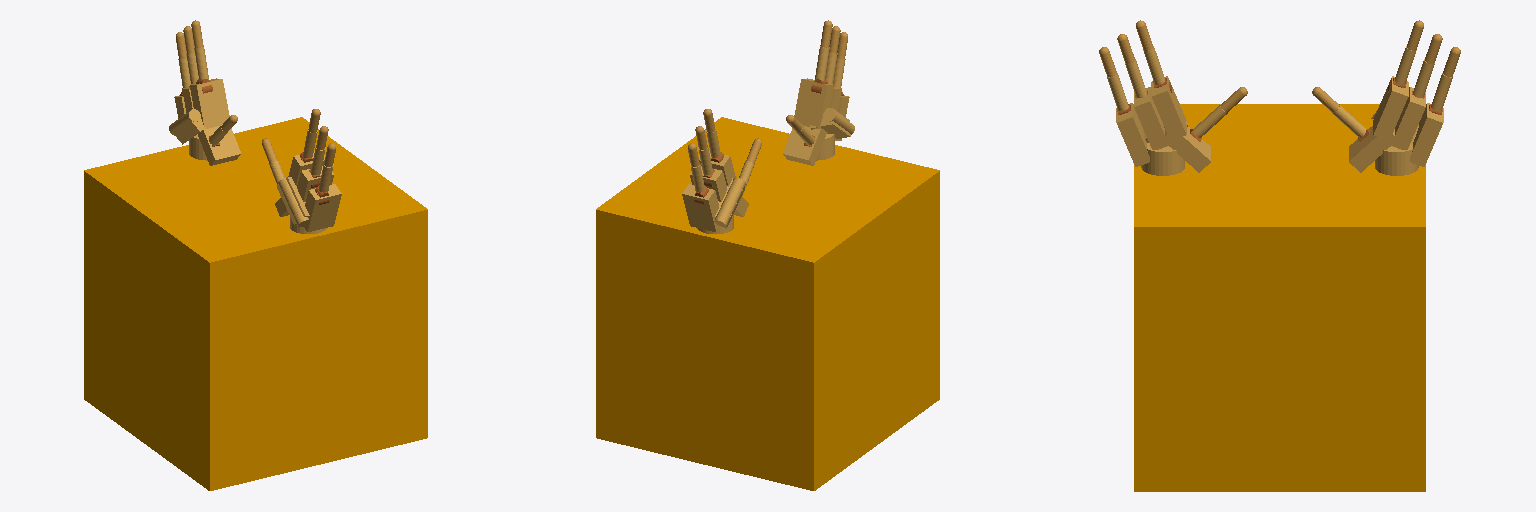
--- Facts derived from the render (not from the file) ---
3 views of the same robot in one strip: view 1: azimuth 30°, elevation 25°; view 2: azimuth 150°, elevation 25°; view 3: azimuth 270°, elevation 25° (orthographic).
Model humanoid with 69 links and 68 joints (68 fixed), rooted at base, posed every joint at zero.
Visible links, largest first — view 1: base, right_palm, left_palm; view 2: base, left_palm, right_palm; view 3: base, right_palm, left_palm.
Link boxes in pixels (x1=…): base: x1=84, y1=117, x2=427, y2=490; right_palm: x1=169, y1=78, x2=240, y2=165; left_palm: x1=275, y1=151, x2=341, y2=233; base: x1=596, y1=117, x2=939, y2=490; left_palm: x1=783, y1=78, x2=854, y2=165; right_palm: x1=682, y1=151, x2=748, y2=233; base: x1=1134, y1=104, x2=1425, y2=491; right_palm: x1=1349, y1=76, x2=1443, y2=175; left_palm: x1=1116, y1=76, x2=1210, y2=175.
Bounding box of the posed robot: 0.5 × 0.6197 × 0.7732 m (x, y, z).
Geometry: primitives only (box / cylinder / sphere), no mesh files.

The robot description file, URDF, robot "humanoid":
<?xml version="1.0" ?>
<!-- =================================================================================== -->
<!-- |    This document was autogenerated by xacro from /tmp/buildd/sandia-hand-5.1.14/ros/sandia_hand_description/robots/sandia_hand_stumps_on_box.urdf.xacro | -->
<!-- |    EDITING THIS FILE BY HAND IS NOT RECOMMENDED                                 | -->
<!-- =================================================================================== -->
<robot name="humanoid" xmlns:controller="http://playerstage.sourceforge.net/gazebo/xmlschema/#controller" xmlns:interface="http://playerstage.sourceforge.net/gazebo/xmlschema/#interface" xmlns:sensor="http://playerstage.sourceforge.net/gazebo/xmlschema/#sensor" xmlns:xacro="http://www.ros.org/wiki/xacro">
  <!-- Commenting out urdf with meshes, using simple collision shapes instead -->
  <!--<include filename="$(find sandia_hand_description)/urdf/sandia_hand.urdf.xacro" />-->
  <link name="base">
    <inertial>
      <mass value="0.1"/>
      <origin rpy="0 0 0" xyz="0 0 0.25"/>
      <inertia ixx="0.01" ixy="0" ixz="0" iyy="0.01" iyz="0" izz="0.01"/>
    </inertial>
    <visual>
      <origin rpy="0 0 0" xyz="0 0 0.25"/>
      <geometry>
        <box size="0.5 0.5 0.5"/>
      </geometry>
    </visual>
    <collision>
      <origin rpy="0 0 0" xyz="0 0 0.25"/>
      <geometry>
        <box size="0.5 0.5 0.5"/>
      </geometry>
    </collision>
  </link>
  <joint name="r_hand_base" type="fixed">
    <parent link="base"/>
    <child link="r_hand"/>
  </joint>
  <link name="r_hand"/>
  <joint name="l_hand_base" type="fixed">
    <parent link="base"/>
    <child link="l_hand"/>
  </joint>
  <link name="l_hand"/>
  <link name="right_palm">
    <origin rpy="0 0 0" xyz="0 0 0"/>
    <inertial>
      <mass value="1.303"/>
      <origin xyz="0 0 0"/>
      <!-- solid sphere with 5cm radius -->
      <inertia ixx="0.001303" ixy="0" ixz="0" iyy="0.001303" iyz="0" izz="0.001303"/>
    </inertial>
    <!-- begin simple shape approximation of palm -->
    <collision group="default">
      <origin rpy="0 1.57079632679 -0.9" xyz="0.069 0.016 0.038"/>
      <geometry>
        <cylinder length="0.100" radius="0.013"/>
      </geometry>
    </collision>
    <collision group="other">
      <origin rpy="0.41 0 -0.9" xyz="0.064 0.008 0.021"/>
      <geometry>
        <box size="0.09 .035 .05"/>
      </geometry>
    </collision>
    <collision group="other">
      <origin rpy="0 1.57079632679 0" xyz="0.02 0 -0.005"/>
      <geometry>
        <cylinder length="0.05" radius="0.038"/>
      </geometry>
    </collision>
    <collision group="other">
      <origin rpy="0 0 0.37" xyz="0.11 -0.01 -0.005"/>
      <geometry>
        <box size="0.09 .03 .06"/>
      </geometry>
    </collision>
    <collision group="other">
      <origin rpy="0 0 0.37" xyz="0.09 0.02 -0.005"/>
      <geometry>
        <box size="0.09 .03 .06"/>
      </geometry>
    </collision>
    <collision group="other">
      <origin rpy="0 0 0.37" xyz="0.060 0.05 -0.005"/>
      <geometry>
        <box size="0.09 .03 .06"/>
      </geometry>
    </collision>
    <collision group="other">
      <origin rpy="0 0 0.79" xyz="0.044 -0.04 -0.005"/>
      <geometry>
        <box size="0.09 .03 .06"/>
      </geometry>
    </collision>
    <!--   end simple shape approximation of palm -->
    <!-- begin visual shape approximation of palm -->
    <visual>
      <origin rpy="0 1.57079632679 -0.9" xyz="0.069 0.016 0.038"/>
      <geometry>
        <cylinder length="0.100" radius="0.013"/>
      </geometry>
      <material name="right_sandia_hand_skin">
        <color rgba="0.835 0.655 0.345 1.0"/>
      </material>
    </visual>
    <visual>
      <origin rpy="0.41 0 -0.9" xyz="0.064 0.008 0.021"/>
      <geometry>
        <box size="0.09 .035 .05"/>
      </geometry>
      <material name="right_sandia_hand_skin">
        <color rgba="0.835 0.655 0.345 1.0"/>
      </material>
    </visual>
    <visual>
      <origin rpy="0 1.57079632679 0" xyz="0.02 0 -0.005"/>
      <geometry>
        <cylinder length="0.05" radius="0.038"/>
      </geometry>
      <material name="right_sandia_hand_skin">
        <color rgba="0.835 0.655 0.345 1.0"/>
      </material>
    </visual>
    <visual>
      <origin rpy="0 0 0.37" xyz="0.11 -0.01 -0.005"/>
      <geometry>
        <box size="0.09 .03 .06"/>
      </geometry>
      <material name="right_sandia_hand_skin">
        <color rgba="0.835 0.655 0.345 1.0"/>
      </material>
    </visual>
    <visual>
      <origin rpy="0 0 0.37" xyz="0.09 0.02 -0.005"/>
      <geometry>
        <box size="0.09 .03 .06"/>
      </geometry>
      <material name="right_sandia_hand_skin">
        <color rgba="0.835 0.655 0.345 1.0"/>
      </material>
    </visual>
    <visual>
      <origin rpy="0 0 0.37" xyz="0.060 0.05 -0.005"/>
      <geometry>
        <box size="0.09 .03 .06"/>
      </geometry>
      <material name="right_sandia_hand_skin">
        <color rgba="0.835 0.655 0.345 1.0"/>
      </material>
    </visual>
    <visual>
      <origin rpy="0 0 0.79" xyz="0.044 -0.04 -0.005"/>
      <geometry>
        <box size="0.09 .03 .06"/>
      </geometry>
      <material name="right_sandia_hand_skin">
        <color rgba="0.835 0.655 0.345 1.0"/>
      </material>
    </visual>
    <!--   end visual shape approximation of palm -->
    <!-- begin collision mesh of f2 ->
      <collision group="default">
        <origin xyz="0 0 0" rpy="0 0 0"/>
        <geometry>
          <mesh filename="package://sandia_hand_description/meshes/palm.stl"/>
        </geometry>
      </collision>
      <!-   end collision mesh of f2 -->
    <!-- begin visual mesh of f2    ->
      <visual>
        <origin xyz="0 0 0" rpy="0 0 0"/>
        <geometry>
          <mesh filename="package://sandia_hand_description/meshes/palm.stl"/>
        </geometry>
        <material name="${side}_sandia_hand_skin">
          <color rgba="0.835 0.655 0.345 1.0"/>
        </material>
      </visual>
      <!-   end visual mesh of f2 -->
  </link>
  <joint name="right_sandia_hand_joint" type="fixed">
    <parent link="r_hand"/>
    <child link="right_palm"/>
    <origin rpy="0 -1.57079 0" xyz="0 0.2 0.5"/>
  </joint>
  <link name="right_f0_base">
    <origin rpy="0 0 0" xyz="0 0 0"/>
    <inertial>
      <!-- total mass is 2.303 kg, palm is about 1.303 kg, distribute the rest into _base -->
      <mass value="0.250"/>
      <!-- (2.303 - 1.303) / 4 -->
      <origin xyz="0 0 0"/>
      <!-- model as sphere with radius of 1cm -->
      <inertia ixx="0.00001" ixy="0" ixz="0" iyy="0.00001" iyz="0" izz="0.00001"/>
    </inertial>
  </link>
  <link name="right_f0_fixed_accel">
    <origin rpy="0 0 0" xyz="0 0 0"/>
    <inertial>
      <mass value="0.01"/>
      <origin xyz="0 0 0"/>
      <inertia ixx="0.000001" ixy="0" ixz="0" iyy="0.000001" iyz="0" izz="0.000001"/>
    </inertial>
  </link>
  <link name="right_f0_0">
    <origin rpy="0 0 0" xyz="0 0 0"/>
    <inertial>
      <mass value="0.106"/>
      <!-- F1 -->
      <origin xyz="0 0 0"/>
      <!-- solid cylinder -->
      <inertia ixx="0.000011925" ixy="0" ixz="0" iyy="0.00011505" iyz="0" izz="0.00011505"/>
    </inertial>
    <!-- begin simple shape approximation of f0 -->
    <collision group="default">
      <origin rpy="0 0 0" xyz="0 0 0.003"/>
      <geometry>
        <cylinder length="0.023" radius="0.015"/>
      </geometry>
    </collision>
    <collision group="other">
      <origin rpy="1.57079632679 0 0" xyz="0.011 0 0.003"/>
      <geometry>
        <cylinder length="0.023" radius="0.01"/>
      </geometry>
    </collision>
    <!--   end simple shape approximation of f0 -->
    <!-- begin visual shape approximation of f0 -->
    <visual>
      <origin rpy="0 0 0" xyz="0 0 0.003"/>
      <geometry>
        <cylinder length="0.023" radius="0.015"/>
      </geometry>
      <material name="right_sandia_hand_skin_suntan">
        <color rgba="0.7 0.4 0.2 1.0"/>
      </material>
    </visual>
    <visual>
      <origin rpy="1.57079632679 0 0" xyz="0.011 0 0.003"/>
      <geometry>
        <cylinder length="0.023" radius="0.01"/>
      </geometry>
      <material name="right_sandia_hand_skin_suntan">
        <color rgba="0.7 0.4 0.2 1.0"/>
      </material>
    </visual>
    <!--   end visual shape approximation of f0 -->
    <!-- begin collision mesh of f0 ->
      <collision group="default">
        <origin xyz="0 0 0" rpy="0 0 0"/>
        <geometry>
          <mesh filename="package://sandia_hand_description/meshes/f0.stl"/>
        </geometry>
      </collision>
      <!-   end collision mesh of f0 -->
    <!-- begin visual mesh of f0 ->
      <visual>
        <origin xyz="0 0 0" rpy="0 0 0"/>
        <geometry>
          <mesh filename="package://sandia_hand_description/meshes/f0.stl"/>
        </geometry>
        <material name="${side}_sandia_hand_skin_suntan">
          <color rgba="0.7 0.4 0.2 1.0"/>
        </material>
      </visual>
      <!-   end visual mesh of f0 -->
  </link>
  <link name="right_f0_1">
    <origin rpy="0 0 0" xyz="0 0 0"/>
    <inertial>
      <mass value="0.033"/>
      <!-- F2 -->
      <origin xyz="0 0 0"/>
      <!-- solid cylinder -->
      <inertia ixx="0.00000165" ixy="0" ixz="0" iyy="0.00001316975" iyz="0" izz="0.00001316975"/>
    </inertial>
    <!-- begin simple shape approximation of f1 -->
    <collision group="default">
      <origin rpy="0 1.57079632679 0" xyz="0.024 0 0"/>
      <geometry>
        <cylinder length="0.067" radius="0.01"/>
      </geometry>
    </collision>
    <!--   end simple shape approximation of f1 -->
    <!-- begin visual shape approximation of f1 -->
    <visual>
      <origin rpy="0 1.57079632679 0" xyz="0.024 0 0"/>
      <geometry>
        <cylinder length="0.067" radius="0.01"/>
      </geometry>
      <material name="right_sandia_hand_skin">
        <color rgba="0.835 0.655 0.345 1.0"/>
      </material>
    </visual>
    <!--   end visual shape approximation of f1 -->
    <!-- begin collision mesh of f1 ->
      <collision group="default">
        <origin xyz="0 0 0" rpy="0 0 0"/>
        <geometry>
          <mesh filename="package://sandia_hand_description/meshes/f1.stl"/>
        </geometry>
      </collision>
      <!-   end collision mesh of f1 -->
    <!-- begin visual mesh of f1 ->
      <visual>
        <origin xyz="0 0 0" rpy="0 0 0"/>
        <geometry>
          <mesh filename="package://sandia_hand_description/meshes/f1.stl"/>
        </geometry>
        <material name="${side}_sandia_hand_skin">
          <color rgba="0.835 0.655 0.345 1.0"/>
        </material>
      </visual>
      <!-   end visual mesh of f1 -->
  </link>
  <link name="right_f0_1_accel">
    <origin rpy="0 0 0" xyz="0 0 0"/>
    <inertial>
      <mass value="0.01"/>
      <origin xyz="0 0 0"/>
      <inertia ixx="0.000001" ixy="0" ixz="0" iyy="0.000001" iyz="0" izz="0.000001"/>
    </inertial>
  </link>
  <link name="right_f0_2">
    <origin rpy="0 0 0" xyz="0 0 0"/>
    <inertial>
      <mass value="0.033"/>
      <!-- F3 -->
      <origin xyz="0 0 0"/>
      <!-- solid cylinder -->
      <inertia ixx="0.0000013365" ixy="0" ixz="0" iyy="0.000009603" iyz="0" izz="0.000009603"/>
    </inertial>
    <!-- begin simple shape approximation of f2 -->
    <collision group="default">
      <origin rpy="0 1.57079632679 0" xyz="0.024 0 0"/>
      <geometry>
        <cylinder length="0.057" radius="0.009"/>
      </geometry>
    </collision>
    <collision group="other">
      <origin rpy="0 0 0" xyz="0.052 0 0"/>
      <geometry>
        <sphere radius="0.009"/>
      </geometry>
    </collision>
    <!--   end simple shape approximation of f2 -->
    <!-- begin visual shape approximation of f2 -->
    <visual>
      <origin rpy="0 1.57079632679 0" xyz="0.024 0 0"/>
      <geometry>
        <cylinder length="0.057" radius="0.009"/>
      </geometry>
      <material name="right_sandia_hand_skin_suntan">
        <color rgba="0.8 0.6 0.3 1.0"/>
      </material>
    </visual>
    <visual>
      <origin rpy="0 0 0" xyz="0.052 0 0"/>
      <geometry>
        <sphere radius="0.009"/>
      </geometry>
      <material name="right_sandia_hand_skin_suntan">
        <color rgba="0.8 0.6 0.3 1.0"/>
      </material>
    </visual>
    <!-- begin collision mesh of f2    ->
      <collision group="default">
        <origin xyz="0 0 0" rpy="0 0 0"/>
        <geometry>
          <mesh filename="package://sandia_hand_description/meshes/f2.stl"/>
        </geometry>
      </collision>
      <!-   end collision mesh of f2 -->
    <!-- begin visual mesh of f2    ->
      <visual>
        <origin xyz="0 0 0" rpy="0 0 0"/>
        <geometry>
          <mesh filename="package://sandia_hand_description/meshes/f2.stl"/>
        </geometry>
        <material name="${side}_sandia_hand_skin_suntan">
          <color rgba="0.8 0.6 0.3 1.0"/>
        </material>
      </visual>
      <!-   end visual mesh of f2 -->
  </link>
  <link name="right_f0_2_accel">
    <origin rpy="0 0 0" xyz="0 0 0"/>
    <inertial>
      <mass value="0.01"/>
      <origin xyz="0 0 0"/>
      <inertia ixx="0.000001" ixy="0" ixz="0" iyy="0.000001" iyz="0" izz="0.000001"/>
    </inertial>
  </link>
  <joint name="right_f0_base" type="fixed">
    <parent link="right_palm"/>
    <child link="right_f0_base"/>
    <origin rpy="0 0 0.3" xyz="0.14 0.0 0"/>
  </joint>
  <joint name="right_f0_j0" type="fixed">
    <axis xyz="0 0 1"/>
    <parent link="right_f0_base"/>
    <child link="right_f0_0"/>
    <limit effort="11" lower="-1.57079632679" upper="1.57079632679" velocity="-1"/>
    <safety_controller k_position="1000.0" k_velocity="1000.0" soft_lower_limit="-11.57079" soft_upper_limit="11.57079"/>
    <dynamics damping="1.0"/>
    <origin rpy="0 0 0" xyz="0 0 0"/>
  </joint>
  <joint name="right_f0_j1" type="fixed">
    <axis xyz="0 0 1"/>
    <parent link="right_f0_0"/>
    <child link="right_f0_1"/>
    <limit effort="28" lower="-1.57079632679" upper="1.57079632679" velocity="-1"/>
    <safety_controller k_position="1000.0" k_velocity="1000.0" soft_lower_limit="-11.57079" soft_upper_limit="11.57079"/>
    <dynamics damping="1.0"/>
    <origin rpy="1.57079632679 0 0" xyz="0.028 0 0"/>
  </joint>
  <joint name="right_f0_j2" type="fixed">
    <axis xyz="0 0 1"/>
    <parent link="right_f0_1"/>
    <child link="right_f0_2"/>
    <origin rpy="0 0 0" xyz="0.05 0 0"/>
    <safety_controller k_position="1000.0" k_velocity="1000.0" soft_lower_limit="-11.57079" soft_upper_limit="11.57079"/>
    <dynamics damping="1.0"/>
    <limit effort="28" lower="-1.57079632679" upper="1.57079632679" velocity="-1"/>
  </joint>
  <joint name="right_f0_fixed_accel" type="fixed">
    <parent link="right_f0_base"/>
    <child link="right_f0_fixed_accel"/>
    <origin rpy="0 0 0" xyz="-0.05 0 0"/>
  </joint>
  <joint name="right_f0_1_accel" type="fixed">
    <parent link="right_f0_1"/>
    <child link="right_f0_1_accel"/>
    <origin rpy="-1.57079632679 0 0" xyz="0.03 0 0"/>
  </joint>
  <joint name="right_f0_2_accel" type="fixed">
    <parent link="right_f0_2"/>
    <child link="right_f0_2_accel"/>
    <origin rpy="-1.57079632679 0 0" xyz="0.04 0 0"/>
  </joint>
  <transmission name="right_f0_j0" type="pr2_mechanism_model/SimpleTransmission">
    <joint name="right_f0_j0"/>
    <actuator name="right_f0_j0_motor"/>
    <mechanicalReduction>1</mechanicalReduction>
  </transmission>
  <transmission name="right_f0_j1" type="pr2_mechanism_model/SimpleTransmission">
    <joint name="right_f0_j1"/>
    <actuator name="right_f0_j1_motor"/>
    <mechanicalReduction>1</mechanicalReduction>
  </transmission>
  <transmission name="right_f0_j2" type="pr2_mechanism_model/SimpleTransmission">
    <joint name="right_f0_j2"/>
    <actuator name="right_f0_j2_motor"/>
    <mechanicalReduction>1</mechanicalReduction>
  </transmission>
  <gazebo reference="right_f0_base">
    <mu1>0.9</mu1>
    <mu2>0.9</mu2>
    <kp>1000000.0</kp>
    <kd>1.0</kd>
    <maxVel>0.1</maxVel>
    <minDepth>0.001</minDepth>
    <material>Gazebo/FlatBlack</material>
  </gazebo>
  <gazebo reference="right_f0_0">
    <mu1>0.9</mu1>
    <mu2>0.9</mu2>
    <kp>1000000.0</kp>
    <kd>1.0</kd>
    <maxVel>0.1</maxVel>
    <minDepth>0.003</minDepth>
    <maxContacts>1</maxContacts>
    <material>Gazebo/FlatBlack</material>
  </gazebo>
  <gazebo reference="right_f0_1">
    <mu1>0.9</mu1>
    <mu2>0.9</mu2>
    <kp>1000000.0</kp>
    <kd>1.0</kd>
    <maxVel>0.1</maxVel>
    <minDepth>0.003</minDepth>
    <maxContacts>1</maxContacts>
    <material>Gazebo/FlatBlack</material>
  </gazebo>
  <gazebo reference="right_f0_2">
    <mu1>0.9</mu1>
    <mu2>0.9</mu2>
    <kp>1000000.0</kp>
    <kd>1.0</kd>
    <maxVel>0.1</maxVel>
    <minDepth>0.003</minDepth>
    <maxContacts>1</maxContacts>
    <material>Gazebo/FlatBlack</material>
  </gazebo>
  <gazebo reference="right_f0_j0">
    <cfmDamping>1</cfmDamping>
  </gazebo>
  <gazebo reference="right_f0_j1">
    <cfmDamping>1</cfmDamping>
  </gazebo>
  <gazebo reference="right_f0_j2">
    <cfmDamping>1</cfmDamping>
  </gazebo>
  <link name="right_f1_base">
    <origin rpy="0 0 0" xyz="0 0 0"/>
    <inertial>
      <!-- total mass is 2.303 kg, palm is about 1.303 kg, distribute the rest into _base -->
      <mass value="0.250"/>
      <!-- (2.303 - 1.303) / 4 -->
      <origin xyz="0 0 0"/>
      <!-- model as sphere with radius of 1cm -->
      <inertia ixx="0.00001" ixy="0" ixz="0" iyy="0.00001" iyz="0" izz="0.00001"/>
    </inertial>
  </link>
  <link name="right_f1_fixed_accel">
    <origin rpy="0 0 0" xyz="0 0 0"/>
    <inertial>
      <mass value="0.01"/>
      <origin xyz="0 0 0"/>
      <inertia ixx="0.000001" ixy="0" ixz="0" iyy="0.000001" iyz="0" izz="0.000001"/>
    </inertial>
  </link>
  <link name="right_f1_0">
    <origin rpy="0 0 0" xyz="0 0 0"/>
    <inertial>
      <mass value="0.106"/>
      <!-- F1 -->
      <origin xyz="0 0 0"/>
      <!-- solid cylinder -->
      <inertia ixx="0.000011925" ixy="0" ixz="0" iyy="0.00011505" iyz="0" izz="0.00011505"/>
    </inertial>
    <!-- begin simple shape approximation of f0 -->
    <collision group="default">
      <origin rpy="0 0 0" xyz="0 0 0.003"/>
      <geometry>
        <cylinder length="0.023" radius="0.015"/>
      </geometry>
    </collision>
    <collision group="other">
      <origin rpy="1.57079632679 0 0" xyz="0.011 0 0.003"/>
      <geometry>
        <cylinder length="0.023" radius="0.01"/>
      </geometry>
    </collision>
    <!--   end simple shape approximation of f0 -->
    <!-- begin visual shape approximation of f0 -->
    <visual>
      <origin rpy="0 0 0" xyz="0 0 0.003"/>
      <geometry>
        <cylinder length="0.023" radius="0.015"/>
      </geometry>
      <material name="right_sandia_hand_skin_suntan">
        <color rgba="0.7 0.4 0.2 1.0"/>
      </material>
    </visual>
    <visual>
      <origin rpy="1.57079632679 0 0" xyz="0.011 0 0.003"/>
      <geometry>
        <cylinder length="0.023" radius="0.01"/>
      </geometry>
      <material name="right_sandia_hand_skin_suntan">
        <color rgba="0.7 0.4 0.2 1.0"/>
      </material>
    </visual>
    <!--   end visual shape approximation of f0 -->
    <!-- begin collision mesh of f0 ->
      <collision group="default">
        <origin xyz="0 0 0" rpy="0 0 0"/>
        <geometry>
          <mesh filename="package://sandia_hand_description/meshes/f0.stl"/>
        </geometry>
      </collision>
      <!-   end collision mesh of f0 -->
    <!-- begin visual mesh of f0 ->
      <visual>
        <origin xyz="0 0 0" rpy="0 0 0"/>
        <geometry>
          <mesh filename="package://sandia_hand_description/meshes/f0.stl"/>
        </geometry>
        <material name="${side}_sandia_hand_skin_suntan">
          <color rgba="0.7 0.4 0.2 1.0"/>
        </material>
      </visual>
      <!-   end visual mesh of f0 -->
  </link>
  <link name="right_f1_1">
    <origin rpy="0 0 0" xyz="0 0 0"/>
    <inertial>
      <mass value="0.033"/>
      <!-- F2 -->
      <origin xyz="0 0 0"/>
      <!-- solid cylinder -->
      <inertia ixx="0.00000165" ixy="0" ixz="0" iyy="0.00001316975" iyz="0" izz="0.00001316975"/>
    </inertial>
    <!-- begin simple shape approximation of f1 -->
    <collision group="default">
      <origin rpy="0 1.57079632679 0" xyz="0.024 0 0"/>
      <geometry>
        <cylinder length="0.067" radius="0.01"/>
      </geometry>
    </collision>
    <!--   end simple shape approximation of f1 -->
    <!-- begin visual shape approximation of f1 -->
    <visual>
      <origin rpy="0 1.57079632679 0" xyz="0.024 0 0"/>
      <geometry>
        <cylinder length="0.067" radius="0.01"/>
      </geometry>
      <material name="right_sandia_hand_skin">
        <color rgba="0.835 0.655 0.345 1.0"/>
      </material>
    </visual>
    <!--   end visual shape approximation of f1 -->
    <!-- begin collision mesh of f1 ->
      <collision group="default">
        <origin xyz="0 0 0" rpy="0 0 0"/>
        <geometry>
          <mesh filename="package://sandia_hand_description/meshes/f1.stl"/>
        </geometry>
      </collision>
      <!-   end collision mesh of f1 -->
    <!-- begin visual mesh of f1 ->
      <visual>
        <origin xyz="0 0 0" rpy="0 0 0"/>
        <geometry>
          <mesh filename="package://sandia_hand_description/meshes/f1.stl"/>
        </geometry>
        <material name="${side}_sandia_hand_skin">
          <color rgba="0.835 0.655 0.345 1.0"/>
        </material>
      </visual>
      <!-   end visual mesh of f1 -->
  </link>
  <link name="right_f1_1_accel">
    <origin rpy="0 0 0" xyz="0 0 0"/>
    <inertial>
      <mass value="0.01"/>
      <origin xyz="0 0 0"/>
      <inertia ixx="0.000001" ixy="0" ixz="0" iyy="0.000001" iyz="0" izz="0.000001"/>
    </inertial>
  </link>
  <link name="right_f1_2">
    <origin rpy="0 0 0" xyz="0 0 0"/>
    <inertial>
      <mass value="0.033"/>
      <!-- F3 -->
      <origin xyz="0 0 0"/>
      <!-- solid cylinder -->
      <inertia ixx="0.0000013365" ixy="0" ixz="0" iyy="0.000009603" iyz="0" izz="0.000009603"/>
    </inertial>
    <!-- begin simple shape approximation of f2 -->
    <collision group="default">
      <origin rpy="0 1.57079632679 0" xyz="0.024 0 0"/>
      <geometry>
        <cylinder length="0.057" radius="0.009"/>
      </geometry>
    </collision>
    <collision group="other">
      <origin rpy="0 0 0" xyz="0.052 0 0"/>
      <geometry>
        <sphere radius="0.009"/>
      </geometry>
    </collision>
    <!--   end simple shape approximation of f2 -->
    <!-- begin visual shape approximation of f2 -->
    <visual>
      <origin rpy="0 1.57079632679 0" xyz="0.024 0 0"/>
      <geometry>
        <cylinder length="0.057" radius="0.009"/>
      </geometry>
      <material name="right_sandia_hand_skin_suntan">
        <color rgba="0.8 0.6 0.3 1.0"/>
      </material>
    </visual>
    <visual>
      <origin rpy="0 0 0" xyz="0.052 0 0"/>
      <geometry>
        <sphere radius="0.009"/>
      </geometry>
      <material name="right_sandia_hand_skin_suntan">
        <color rgba="0.8 0.6 0.3 1.0"/>
      </material>
    </visual>
    <!-- begin collision mesh of f2    ->
      <collision group="default">
        <origin xyz="0 0 0" rpy="0 0 0"/>
        <geometry>
          <mesh filename="package://sandia_hand_description/meshes/f2.stl"/>
        </geometry>
      </collision>
      <!-   end collision mesh of f2 -->
    <!-- begin visual mesh of f2    ->
      <visual>
        <origin xyz="0 0 0" rpy="0 0 0"/>
        <geometry>
          <mesh filename="package://sandia_hand_description/meshes/f2.stl"/>
        </geometry>
        <material name="${side}_sandia_hand_skin_suntan">
          <color rgba="0.8 0.6 0.3 1.0"/>
        </material>
      </visual>
      <!-   end visual mesh of f2 -->
  </link>
  <link name="right_f1_2_accel">
    <origin rpy="0 0 0" xyz="0 0 0"/>
    <inertial>
      <mass value="0.01"/>
      <origin xyz="0 0 0"/>
      <inertia ixx="0.000001" ixy="0" ixz="0" iyy="0.000001" iyz="0" izz="0.000001"/>
    </inertial>
  </link>
  <joint name="right_f1_base" type="fixed">
    <parent link="right_palm"/>
    <child link="right_f1_base"/>
    <origin rpy="0 0 0.3" xyz="0.115 0.03122 0"/>
  </joint>
  <joint name="right_f1_j0" type="fixed">
    <axis xyz="0 0 1"/>
    <parent link="right_f1_base"/>
    <child link="right_f1_0"/>
    <limit effort="11" lower="-1.57079632679" upper="1.57079632679" velocity="-1"/>
    <safety_controller k_position="1000.0" k_velocity="1000.0" soft_lower_limit="-11.57079" soft_upper_limit="11.57079"/>
    <dynamics damping="1.0"/>
    <origin rpy="0 0 0" xyz="0 0 0"/>
  </joint>
  <joint name="right_f1_j1" type="fixed">
    <axis xyz="0 0 1"/>
    <parent link="right_f1_0"/>
    <child link="right_f1_1"/>
    <limit effort="28" lower="-1.57079632679" upper="1.57079632679" velocity="-1"/>
    <safety_controller k_position="1000.0" k_velocity="1000.0" soft_lower_limit="-11.57079" soft_upper_limit="11.57079"/>
    <dynamics damping="1.0"/>
    <origin rpy="1.57079632679 0 0" xyz="0.028 0 0"/>
  </joint>
  <joint name="right_f1_j2" type="fixed">
    <axis xyz="0 0 1"/>
    <parent link="right_f1_1"/>
    <child link="right_f1_2"/>
    <origin rpy="0 0 0" xyz="0.05 0 0"/>
    <safety_controller k_position="1000.0" k_velocity="1000.0" soft_lower_limit="-11.57079" soft_upper_limit="11.57079"/>
    <dynamics damping="1.0"/>
    <limit effort="28" lower="-1.57079632679" upper="1.57079632679" velocity="-1"/>
  </joint>
  <joint name="right_f1_fixed_accel" type="fixed">
    <parent link="right_f1_base"/>
    <child link="right_f1_fixed_accel"/>
    <origin rpy="0 0 0" xyz="-0.05 0 0"/>
  </joint>
  <joint name="right_f1_1_accel" type="fixed">
    <parent link="right_f1_1"/>
    <child link="right_f1_1_accel"/>
    <origin rpy="-1.57079632679 0 0" xyz="0.03 0 0"/>
  </joint>
  <joint name="right_f1_2_accel" type="fixed">
    <parent link="right_f1_2"/>
    <child link="right_f1_2_accel"/>
    <origin rpy="-1.57079632679 0 0" xyz="0.04 0 0"/>
  </joint>
  <transmission name="right_f1_j0" type="pr2_mechanism_model/SimpleTransmission">
    <joint name="right_f1_j0"/>
    <actuator name="right_f1_j0_motor"/>
    <mechanicalReduction>1</mechanicalReduction>
  </transmission>
  <transmission name="right_f1_j1" type="pr2_mechanism_model/SimpleTransmission">
    <joint name="right_f1_j1"/>
    <actuator name="right_f1_j1_motor"/>
    <mechanicalReduction>1</mechanicalReduction>
  </transmission>
  <transmission name="right_f1_j2" type="pr2_mechanism_model/SimpleTransmission">
    <joint name="right_f1_j2"/>
    <actuator name="right_f1_j2_motor"/>
    <mechanicalReduction>1</mechanicalReduction>
  </transmission>
  <gazebo reference="right_f1_base">
    <mu1>0.9</mu1>
    <mu2>0.9</mu2>
    <kp>1000000.0</kp>
    <kd>1.0</kd>
    <maxVel>0.1</maxVel>
    <minDepth>0.001</minDepth>
    <material>Gazebo/FlatBlack</material>
  </gazebo>
  <gazebo reference="right_f1_0">
    <mu1>0.9</mu1>
    <mu2>0.9</mu2>
    <kp>1000000.0</kp>
    <kd>1.0</kd>
    <maxVel>0.1</maxVel>
    <minDepth>0.003</minDepth>
    <maxContacts>1</maxContacts>
    <material>Gazebo/FlatBlack</material>
  </gazebo>
  <gazebo reference="right_f1_1">
    <mu1>0.9</mu1>
    <mu2>0.9</mu2>
    <kp>1000000.0</kp>
    <kd>1.0</kd>
    <maxVel>0.1</maxVel>
    <minDepth>0.003</minDepth>
    <maxContacts>1</maxContacts>
    <material>Gazebo/FlatBlack</material>
  </gazebo>
  <gazebo reference="right_f1_2">
    <mu1>0.9</mu1>
    <mu2>0.9</mu2>
    <kp>1000000.0</kp>
    <kd>1.0</kd>
    <maxVel>0.1</maxVel>
    <minDepth>0.003</minDepth>
    <maxContacts>1</maxContacts>
    <material>Gazebo/FlatBlack</material>
  </gazebo>
  <gazebo reference="right_f1_j0">
    <cfmDamping>1</cfmDamping>
  </gazebo>
  <gazebo reference="right_f1_j1">
    <cfmDamping>1</cfmDamping>
  </gazebo>
  <gazebo reference="right_f1_j2">
    <cfmDamping>1</cfmDamping>
  </gazebo>
  <link name="right_f2_base">
    <origin rpy="0 0 0" xyz="0 0 0"/>
    <inertial>
      <!-- total mass is 2.303 kg, palm is about 1.303 kg, distribute the rest into _base -->
      <mass value="0.250"/>
      <!-- (2.303 - 1.303) / 4 -->
      <origin xyz="0 0 0"/>
      <!-- model as sphere with radius of 1cm -->
      <inertia ixx="0.00001" ixy="0" ixz="0" iyy="0.00001" iyz="0" izz="0.00001"/>
    </inertial>
  </link>
  <link name="right_f2_fixed_accel">
    <origin rpy="0 0 0" xyz="0 0 0"/>
    <inertial>
      <mass value="0.01"/>
      <origin xyz="0 0 0"/>
      <inertia ixx="0.000001" ixy="0" ixz="0" iyy="0.000001" iyz="0" izz="0.000001"/>
    </inertial>
  </link>
  <link name="right_f2_0">
    <origin rpy="0 0 0" xyz="0 0 0"/>
    <inertial>
      <mass value="0.106"/>
      <!-- F1 -->
      <origin xyz="0 0 0"/>
      <!-- solid cylinder -->
      <inertia ixx="0.000011925" ixy="0" ixz="0" iyy="0.00011505" iyz="0" izz="0.00011505"/>
    </inertial>
    <!-- begin simple shape approximation of f0 -->
    <collision group="default">
      <origin rpy="0 0 0" xyz="0 0 0.003"/>
      <geometry>
        <cylinder length="0.023" radius="0.015"/>
      </geometry>
    </collision>
    <collision group="other">
      <origin rpy="1.57079632679 0 0" xyz="0.011 0 0.003"/>
      <geometry>
        <cylinder length="0.023" radius="0.01"/>
      </geometry>
    </collision>
    <!--   end simple shape approximation of f0 -->
    <!-- begin visual shape approximation of f0 -->
    <visual>
      <origin rpy="0 0 0" xyz="0 0 0.003"/>
      <geometry>
        <cylinder length="0.023" radius="0.015"/>
      </geometry>
      <material name="right_sandia_hand_skin_suntan">
        <color rgba="0.7 0.4 0.2 1.0"/>
      </material>
    </visual>
    <visual>
      <origin rpy="1.57079632679 0 0" xyz="0.011 0 0.003"/>
      <geometry>
        <cylinder length="0.023" radius="0.01"/>
      </geometry>
      <material name="right_sandia_hand_skin_suntan">
        <color rgba="0.7 0.4 0.2 1.0"/>
      </material>
    </visual>
    <!--   end visual shape approximation of f0 -->
    <!-- begin collision mesh of f0 ->
      <collision group="default">
        <origin xyz="0 0 0" rpy="0 0 0"/>
        <geometry>
          <mesh filename="package://sandia_hand_description/meshes/f0.stl"/>
        </geometry>
      </collision>
      <!-   end collision mesh of f0 -->
    <!-- begin visual mesh of f0 ->
      <visual>
        <origin xyz="0 0 0" rpy="0 0 0"/>
        <geometry>
          <mesh filename="package://sandia_hand_description/meshes/f0.stl"/>
        </geometry>
        <material name="${side}_sandia_hand_skin_suntan">
          <color rgba="0.7 0.4 0.2 1.0"/>
        </material>
      </visual>
      <!-   end visual mesh of f0 -->
  </link>
  <link name="right_f2_1">
    <origin rpy="0 0 0" xyz="0 0 0"/>
    <inertial>
      <mass value="0.033"/>
      <!-- F2 -->
      <origin xyz="0 0 0"/>
      <!-- solid cylinder -->
      <inertia ixx="0.00000165" ixy="0" ixz="0" iyy="0.00001316975" iyz="0" izz="0.00001316975"/>
    </inertial>
    <!-- begin simple shape approximation of f1 -->
    <collision group="default">
      <origin rpy="0 1.57079632679 0" xyz="0.024 0 0"/>
      <geometry>
        <cylinder length="0.067" radius="0.01"/>
      </geometry>
    </collision>
    <!--   end simple shape approximation of f1 -->
    <!-- begin visual shape approximation of f1 -->
    <visual>
      <origin rpy="0 1.57079632679 0" xyz="0.024 0 0"/>
      <geometry>
        <cylinder length="0.067" radius="0.01"/>
      </geometry>
      <material name="right_sandia_hand_skin">
        <color rgba="0.835 0.655 0.345 1.0"/>
      </material>
    </visual>
    <!--   end visual shape approximation of f1 -->
    <!-- begin collision mesh of f1 ->
      <collision group="default">
        <origin xyz="0 0 0" rpy="0 0 0"/>
        <geometry>
          <mesh filename="package://sandia_hand_description/meshes/f1.stl"/>
        </geometry>
      </collision>
      <!-   end collision mesh of f1 -->
    <!-- begin visual mesh of f1 ->
      <visual>
        <origin xyz="0 0 0" rpy="0 0 0"/>
        <geometry>
          <mesh filename="package://sandia_hand_description/meshes/f1.stl"/>
        </geometry>
        <material name="${side}_sandia_hand_skin">
          <color rgba="0.835 0.655 0.345 1.0"/>
        </material>
      </visual>
      <!-   end visual mesh of f1 -->
  </link>
  <link name="right_f2_1_accel">
    <origin rpy="0 0 0" xyz="0 0 0"/>
    <inertial>
      <mass value="0.01"/>
      <origin xyz="0 0 0"/>
      <inertia ixx="0.000001" ixy="0" ixz="0" iyy="0.000001" iyz="0" izz="0.000001"/>
    </inertial>
  </link>
  <link name="right_f2_2">
    <origin rpy="0 0 0" xyz="0 0 0"/>
    <inertial>
      <mass value="0.033"/>
      <!-- F3 -->
      <origin xyz="0 0 0"/>
      <!-- solid cylinder -->
      <inertia ixx="0.0000013365" ixy="0" ixz="0" iyy="0.000009603" iyz="0" izz="0.000009603"/>
    </inertial>
    <!-- begin simple shape approximation of f2 -->
    <collision group="default">
      <origin rpy="0 1.57079632679 0" xyz="0.024 0 0"/>
      <geometry>
        <cylinder length="0.057" radius="0.009"/>
      </geometry>
    </collision>
    <collision group="other">
      <origin rpy="0 0 0" xyz="0.052 0 0"/>
      <geometry>
        <sphere radius="0.009"/>
      </geometry>
    </collision>
    <!--   end simple shape approximation of f2 -->
    <!-- begin visual shape approximation of f2 -->
    <visual>
      <origin rpy="0 1.57079632679 0" xyz="0.024 0 0"/>
      <geometry>
        <cylinder length="0.057" radius="0.009"/>
      </geometry>
      <material name="right_sandia_hand_skin_suntan">
        <color rgba="0.8 0.6 0.3 1.0"/>
      </material>
    </visual>
    <visual>
      <origin rpy="0 0 0" xyz="0.052 0 0"/>
      <geometry>
        <sphere radius="0.009"/>
      </geometry>
      <material name="right_sandia_hand_skin_suntan">
        <color rgba="0.8 0.6 0.3 1.0"/>
      </material>
    </visual>
    <!-- begin collision mesh of f2    ->
      <collision group="default">
        <origin xyz="0 0 0" rpy="0 0 0"/>
        <geometry>
          <mesh filename="package://sandia_hand_description/meshes/f2.stl"/>
        </geometry>
      </collision>
      <!-   end collision mesh of f2 -->
    <!-- begin visual mesh of f2    ->
      <visual>
        <origin xyz="0 0 0" rpy="0 0 0"/>
        <geometry>
          <mesh filename="package://sandia_hand_description/meshes/f2.stl"/>
        </geometry>
        <material name="${side}_sandia_hand_skin_suntan">
          <color rgba="0.8 0.6 0.3 1.0"/>
        </material>
      </visual>
      <!-   end visual mesh of f2 -->
  </link>
  <link name="right_f2_2_accel">
    <origin rpy="0 0 0" xyz="0 0 0"/>
    <inertial>
      <mass value="0.01"/>
      <origin xyz="0 0 0"/>
      <inertia ixx="0.000001" ixy="0" ixz="0" iyy="0.000001" iyz="0" izz="0.000001"/>
    </inertial>
  </link>
  <joint name="right_f2_base" type="fixed">
    <parent link="right_palm"/>
    <child link="right_f2_base"/>
    <origin rpy="0 0 0.3" xyz="0.09 0.06245 0"/>
  </joint>
  <joint name="right_f2_j0" type="fixed">
    <axis xyz="0 0 1"/>
    <parent link="right_f2_base"/>
    <child link="right_f2_0"/>
    <limit effort="11" lower="-1.57079632679" upper="1.57079632679" velocity="-1"/>
    <safety_controller k_position="1000.0" k_velocity="1000.0" soft_lower_limit="-11.57079" soft_upper_limit="11.57079"/>
    <dynamics damping="1.0"/>
    <origin rpy="0 0 0" xyz="0 0 0"/>
  </joint>
  <joint name="right_f2_j1" type="fixed">
    <axis xyz="0 0 1"/>
    <parent link="right_f2_0"/>
    <child link="right_f2_1"/>
    <limit effort="28" lower="-1.57079632679" upper="1.57079632679" velocity="-1"/>
    <safety_controller k_position="1000.0" k_velocity="1000.0" soft_lower_limit="-11.57079" soft_upper_limit="11.57079"/>
    <dynamics damping="1.0"/>
    <origin rpy="1.57079632679 0 0" xyz="0.028 0 0"/>
  </joint>
  <joint name="right_f2_j2" type="fixed">
    <axis xyz="0 0 1"/>
    <parent link="right_f2_1"/>
    <child link="right_f2_2"/>
    <origin rpy="0 0 0" xyz="0.05 0 0"/>
    <safety_controller k_position="1000.0" k_velocity="1000.0" soft_lower_limit="-11.57079" soft_upper_limit="11.57079"/>
    <dynamics damping="1.0"/>
    <limit effort="28" lower="-1.57079632679" upper="1.57079632679" velocity="-1"/>
  </joint>
  <joint name="right_f2_fixed_accel" type="fixed">
    <parent link="right_f2_base"/>
    <child link="right_f2_fixed_accel"/>
    <origin rpy="0 0 0" xyz="-0.05 0 0"/>
  </joint>
  <joint name="right_f2_1_accel" type="fixed">
    <parent link="right_f2_1"/>
    <child link="right_f2_1_accel"/>
    <origin rpy="-1.57079632679 0 0" xyz="0.03 0 0"/>
  </joint>
  <joint name="right_f2_2_accel" type="fixed">
    <parent link="right_f2_2"/>
    <child link="right_f2_2_accel"/>
    <origin rpy="-1.57079632679 0 0" xyz="0.04 0 0"/>
  </joint>
  <transmission name="right_f2_j0" type="pr2_mechanism_model/SimpleTransmission">
    <joint name="right_f2_j0"/>
    <actuator name="right_f2_j0_motor"/>
    <mechanicalReduction>1</mechanicalReduction>
  </transmission>
  <transmission name="right_f2_j1" type="pr2_mechanism_model/SimpleTransmission">
    <joint name="right_f2_j1"/>
    <actuator name="right_f2_j1_motor"/>
    <mechanicalReduction>1</mechanicalReduction>
  </transmission>
  <transmission name="right_f2_j2" type="pr2_mechanism_model/SimpleTransmission">
    <joint name="right_f2_j2"/>
    <actuator name="right_f2_j2_motor"/>
    <mechanicalReduction>1</mechanicalReduction>
  </transmission>
  <gazebo reference="right_f2_base">
    <mu1>0.9</mu1>
    <mu2>0.9</mu2>
    <kp>1000000.0</kp>
    <kd>1.0</kd>
    <maxVel>0.1</maxVel>
    <minDepth>0.001</minDepth>
    <material>Gazebo/FlatBlack</material>
  </gazebo>
  <gazebo reference="right_f2_0">
    <mu1>0.9</mu1>
    <mu2>0.9</mu2>
    <kp>1000000.0</kp>
    <kd>1.0</kd>
    <maxVel>0.1</maxVel>
    <minDepth>0.003</minDepth>
    <maxContacts>1</maxContacts>
    <material>Gazebo/FlatBlack</material>
  </gazebo>
  <gazebo reference="right_f2_1">
    <mu1>0.9</mu1>
    <mu2>0.9</mu2>
    <kp>1000000.0</kp>
    <kd>1.0</kd>
    <maxVel>0.1</maxVel>
    <minDepth>0.003</minDepth>
    <maxContacts>1</maxContacts>
    <material>Gazebo/FlatBlack</material>
  </gazebo>
  <gazebo reference="right_f2_2">
    <mu1>0.9</mu1>
    <mu2>0.9</mu2>
    <kp>1000000.0</kp>
    <kd>1.0</kd>
    <maxVel>0.1</maxVel>
    <minDepth>0.003</minDepth>
    <maxContacts>1</maxContacts>
    <material>Gazebo/FlatBlack</material>
  </gazebo>
  <gazebo reference="right_f2_j0">
    <cfmDamping>1</cfmDamping>
  </gazebo>
  <gazebo reference="right_f2_j1">
    <cfmDamping>1</cfmDamping>
  </gazebo>
  <gazebo reference="right_f2_j2">
    <cfmDamping>1</cfmDamping>
  </gazebo>
  <link name="right_f3_base">
    <origin rpy="0 0 0" xyz="0 0 0"/>
    <inertial>
      <!-- total mass is 2.303 kg, palm is about 1.303 kg, distribute the rest into _base -->
      <mass value="0.250"/>
      <!-- (2.303 - 1.303) / 4 -->
      <origin xyz="0 0 0"/>
      <!-- model as sphere with radius of 1cm -->
      <inertia ixx="0.00001" ixy="0" ixz="0" iyy="0.00001" iyz="0" izz="0.00001"/>
    </inertial>
  </link>
  <link name="right_f3_fixed_accel">
    <origin rpy="0 0 0" xyz="0 0 0"/>
    <inertial>
      <mass value="0.01"/>
      <origin xyz="0 0 0"/>
      <inertia ixx="0.000001" ixy="0" ixz="0" iyy="0.000001" iyz="0" izz="0.000001"/>
    </inertial>
  </link>
  <link name="right_f3_0">
    <origin rpy="0 0 0" xyz="0 0 0"/>
    <inertial>
      <mass value="0.106"/>
      <!-- F1 -->
      <origin xyz="0 0 0"/>
      <!-- solid cylinder -->
      <inertia ixx="0.000011925" ixy="0" ixz="0" iyy="0.00011505" iyz="0" izz="0.00011505"/>
    </inertial>
    <!-- begin simple shape approximation of f0 -->
    <collision group="default">
      <origin rpy="0 0 0" xyz="0 0 0.003"/>
      <geometry>
        <cylinder length="0.023" radius="0.015"/>
      </geometry>
    </collision>
    <collision group="other">
      <origin rpy="1.57079632679 0 0" xyz="0.011 0 0.003"/>
      <geometry>
        <cylinder length="0.023" radius="0.01"/>
      </geometry>
    </collision>
    <!--   end simple shape approximation of f0 -->
    <!-- begin visual shape approximation of f0 -->
    <visual>
      <origin rpy="0 0 0" xyz="0 0 0.003"/>
      <geometry>
        <cylinder length="0.023" radius="0.015"/>
      </geometry>
      <material name="right_sandia_hand_skin_suntan">
        <color rgba="0.7 0.4 0.2 1.0"/>
      </material>
    </visual>
    <visual>
      <origin rpy="1.57079632679 0 0" xyz="0.011 0 0.003"/>
      <geometry>
        <cylinder length="0.023" radius="0.01"/>
      </geometry>
      <material name="right_sandia_hand_skin_suntan">
        <color rgba="0.7 0.4 0.2 1.0"/>
      </material>
    </visual>
    <!--   end visual shape approximation of f0 -->
    <!-- begin collision mesh of f0 ->
      <collision group="default">
        <origin xyz="0 0 0" rpy="0 0 0"/>
        <geometry>
          <mesh filename="package://sandia_hand_description/meshes/f0.stl"/>
        </geometry>
      </collision>
      <!-   end collision mesh of f0 -->
    <!-- begin visual mesh of f0 ->
      <visual>
        <origin xyz="0 0 0" rpy="0 0 0"/>
        <geometry>
          <mesh filename="package://sandia_hand_description/meshes/f0.stl"/>
        </geometry>
        <material name="${side}_sandia_hand_skin_suntan">
          <color rgba="0.7 0.4 0.2 1.0"/>
        </material>
      </visual>
      <!-   end visual mesh of f0 -->
  </link>
  <link name="right_f3_1">
    <origin rpy="0 0 0" xyz="0 0 0"/>
    <inertial>
      <mass value="0.033"/>
      <!-- F2 -->
      <origin xyz="0 0 0"/>
      <!-- solid cylinder -->
      <inertia ixx="0.00000165" ixy="0" ixz="0" iyy="0.00001316975" iyz="0" izz="0.00001316975"/>
    </inertial>
    <!-- begin simple shape approximation of f1 -->
    <collision group="default">
      <origin rpy="0 1.57079632679 0" xyz="0.024 0 0"/>
      <geometry>
        <cylinder length="0.067" radius="0.01"/>
      </geometry>
    </collision>
    <!--   end simple shape approximation of f1 -->
    <!-- begin visual shape approximation of f1 -->
    <visual>
      <origin rpy="0 1.57079632679 0" xyz="0.024 0 0"/>
      <geometry>
        <cylinder length="0.067" radius="0.01"/>
      </geometry>
      <material name="right_sandia_hand_skin">
        <color rgba="0.835 0.655 0.345 1.0"/>
      </material>
    </visual>
    <!--   end visual shape approximation of f1 -->
    <!-- begin collision mesh of f1 ->
      <collision group="default">
        <origin xyz="0 0 0" rpy="0 0 0"/>
        <geometry>
          <mesh filename="package://sandia_hand_description/meshes/f1.stl"/>
        </geometry>
      </collision>
      <!-   end collision mesh of f1 -->
    <!-- begin visual mesh of f1 ->
      <visual>
        <origin xyz="0 0 0" rpy="0 0 0"/>
        <geometry>
          <mesh filename="package://sandia_hand_description/meshes/f1.stl"/>
        </geometry>
        <material name="${side}_sandia_hand_skin">
          <color rgba="0.835 0.655 0.345 1.0"/>
        </material>
      </visual>
      <!-   end visual mesh of f1 -->
  </link>
  <link name="right_f3_1_accel">
    <origin rpy="0 0 0" xyz="0 0 0"/>
    <inertial>
      <mass value="0.01"/>
      <origin xyz="0 0 0"/>
      <inertia ixx="0.000001" ixy="0" ixz="0" iyy="0.000001" iyz="0" izz="0.000001"/>
    </inertial>
  </link>
  <link name="right_f3_2">
    <origin rpy="0 0 0" xyz="0 0 0"/>
    <inertial>
      <mass value="0.033"/>
      <!-- F3 -->
      <origin xyz="0 0 0"/>
      <!-- solid cylinder -->
      <inertia ixx="0.0000013365" ixy="0" ixz="0" iyy="0.000009603" iyz="0" izz="0.000009603"/>
    </inertial>
    <!-- begin simple shape approximation of f2 -->
    <collision group="default">
      <origin rpy="0 1.57079632679 0" xyz="0.024 0 0"/>
      <geometry>
        <cylinder length="0.057" radius="0.009"/>
      </geometry>
    </collision>
    <collision group="other">
      <origin rpy="0 0 0" xyz="0.052 0 0"/>
      <geometry>
        <sphere radius="0.009"/>
      </geometry>
    </collision>
    <!--   end simple shape approximation of f2 -->
    <!-- begin visual shape approximation of f2 -->
    <visual>
      <origin rpy="0 1.57079632679 0" xyz="0.024 0 0"/>
      <geometry>
        <cylinder length="0.057" radius="0.009"/>
      </geometry>
      <material name="right_sandia_hand_skin_suntan">
        <color rgba="0.8 0.6 0.3 1.0"/>
      </material>
    </visual>
    <visual>
      <origin rpy="0 0 0" xyz="0.052 0 0"/>
      <geometry>
        <sphere radius="0.009"/>
      </geometry>
      <material name="right_sandia_hand_skin_suntan">
        <color rgba="0.8 0.6 0.3 1.0"/>
      </material>
    </visual>
    <!-- begin collision mesh of f2    ->
      <collision group="default">
        <origin xyz="0 0 0" rpy="0 0 0"/>
        <geometry>
          <mesh filename="package://sandia_hand_description/meshes/f2.stl"/>
        </geometry>
      </collision>
      <!-   end collision mesh of f2 -->
    <!-- begin visual mesh of f2    ->
      <visual>
        <origin xyz="0 0 0" rpy="0 0 0"/>
        <geometry>
          <mesh filename="package://sandia_hand_description/meshes/f2.stl"/>
        </geometry>
        <material name="${side}_sandia_hand_skin_suntan">
          <color rgba="0.8 0.6 0.3 1.0"/>
        </material>
      </visual>
      <!-   end visual mesh of f2 -->
  </link>
  <link name="right_f3_2_accel">
    <origin rpy="0 0 0" xyz="0 0 0"/>
    <inertial>
      <mass value="0.01"/>
      <origin xyz="0 0 0"/>
      <inertia ixx="0.000001" ixy="0" ixz="0" iyy="0.000001" iyz="0" izz="0.000001"/>
    </inertial>
  </link>
  <joint name="right_f3_base" type="fixed">
    <parent link="right_palm"/>
    <child link="right_f3_base"/>
    <origin rpy="0 -3.14079632679 -3.9262" xyz="0.03995 -0.04383 0.014"/>
  </joint>
  <joint name="right_f3_j0" type="fixed">
    <axis xyz="0 0 1"/>
    <parent link="right_f3_base"/>
    <child link="right_f3_0"/>
    <limit effort="11" lower="-1.57079632679" upper="1.57079632679" velocity="-1"/>
    <safety_controller k_position="1000.0" k_velocity="1000.0" soft_lower_limit="-11.57079" soft_upper_limit="11.57079"/>
    <dynamics damping="1.0"/>
    <origin rpy="0 0 0" xyz="0 0 0"/>
  </joint>
  <joint name="right_f3_j1" type="fixed">
    <axis xyz="0 0 1"/>
    <parent link="right_f3_0"/>
    <child link="right_f3_1"/>
    <limit effort="28" lower="-1.57079632679" upper="1.57079632679" velocity="-1"/>
    <safety_controller k_position="1000.0" k_velocity="1000.0" soft_lower_limit="-11.57079" soft_upper_limit="11.57079"/>
    <dynamics damping="1.0"/>
    <origin rpy="1.57079632679 0 0" xyz="0.028 0 0"/>
  </joint>
  <joint name="right_f3_j2" type="fixed">
    <axis xyz="0 0 1"/>
    <parent link="right_f3_1"/>
    <child link="right_f3_2"/>
    <origin rpy="0 0 0" xyz="0.05 0 0"/>
    <safety_controller k_position="1000.0" k_velocity="1000.0" soft_lower_limit="-11.57079" soft_upper_limit="11.57079"/>
    <dynamics damping="1.0"/>
    <limit effort="28" lower="-1.57079632679" upper="1.57079632679" velocity="-1"/>
  </joint>
  <joint name="right_f3_fixed_accel" type="fixed">
    <parent link="right_f3_base"/>
    <child link="right_f3_fixed_accel"/>
    <origin rpy="0 0 0" xyz="-0.05 0 0"/>
  </joint>
  <joint name="right_f3_1_accel" type="fixed">
    <parent link="right_f3_1"/>
    <child link="right_f3_1_accel"/>
    <origin rpy="-1.57079632679 0 0" xyz="0.03 0 0"/>
  </joint>
  <joint name="right_f3_2_accel" type="fixed">
    <parent link="right_f3_2"/>
    <child link="right_f3_2_accel"/>
    <origin rpy="-1.57079632679 0 0" xyz="0.04 0 0"/>
  </joint>
  <transmission name="right_f3_j0" type="pr2_mechanism_model/SimpleTransmission">
    <joint name="right_f3_j0"/>
    <actuator name="right_f3_j0_motor"/>
    <mechanicalReduction>1</mechanicalReduction>
  </transmission>
  <transmission name="right_f3_j1" type="pr2_mechanism_model/SimpleTransmission">
    <joint name="right_f3_j1"/>
    <actuator name="right_f3_j1_motor"/>
    <mechanicalReduction>1</mechanicalReduction>
  </transmission>
  <transmission name="right_f3_j2" type="pr2_mechanism_model/SimpleTransmission">
    <joint name="right_f3_j2"/>
    <actuator name="right_f3_j2_motor"/>
    <mechanicalReduction>1</mechanicalReduction>
  </transmission>
  <gazebo reference="right_f3_base">
    <mu1>0.9</mu1>
    <mu2>0.9</mu2>
    <kp>1000000.0</kp>
    <kd>1.0</kd>
    <maxVel>0.1</maxVel>
    <minDepth>0.001</minDepth>
    <material>Gazebo/FlatBlack</material>
  </gazebo>
  <gazebo reference="right_f3_0">
    <mu1>0.9</mu1>
    <mu2>0.9</mu2>
    <kp>1000000.0</kp>
    <kd>1.0</kd>
    <maxVel>0.1</maxVel>
    <minDepth>0.003</minDepth>
    <maxContacts>1</maxContacts>
    <material>Gazebo/FlatBlack</material>
  </gazebo>
  <gazebo reference="right_f3_1">
    <mu1>0.9</mu1>
    <mu2>0.9</mu2>
    <kp>1000000.0</kp>
    <kd>1.0</kd>
    <maxVel>0.1</maxVel>
    <minDepth>0.003</minDepth>
    <maxContacts>1</maxContacts>
    <material>Gazebo/FlatBlack</material>
  </gazebo>
  <gazebo reference="right_f3_2">
    <mu1>0.9</mu1>
    <mu2>0.9</mu2>
    <kp>1000000.0</kp>
    <kd>1.0</kd>
    <maxVel>0.1</maxVel>
    <minDepth>0.003</minDepth>
    <maxContacts>1</maxContacts>
    <material>Gazebo/FlatBlack</material>
  </gazebo>
  <gazebo reference="right_f3_j0">
    <cfmDamping>1</cfmDamping>
  </gazebo>
  <gazebo reference="right_f3_j1">
    <cfmDamping>1</cfmDamping>
  </gazebo>
  <gazebo reference="right_f3_j2">
    <cfmDamping>1</cfmDamping>
  </gazebo>
  <gazebo reference="right_palm">
    <mu1>0.9</mu1>
    <mu2>0.9</mu2>
    <material>Gazebo/FlatBlack</material>
  </gazebo>
  <joint name="right_palm_left_camera_frame_joint" type="fixed">
    <origin rpy="0.6708 -1.57079632679 3.14159265359" xyz="0.0683774130138 0.0138342911048 0.025"/>
    <parent link="right_palm"/>
    <child link="right_palm_left_camera_frame"/>
  </joint>
  <link name="right_palm_left_camera_frame">
    <inertial>
      <mass value="0.01"/>
      <origin xyz="0 0 0"/>
      <inertia ixx="0.0001" ixy="0.0" ixz="0.0" iyy="0.0001" iyz="0.0" izz="0.0001"/>
    </inertial>
    <visual group="default">
      <origin rpy="0 0 0" xyz="0 0 0"/>
      <geometry>
        <box size="0.003 0.010 0.007"/>
      </geometry>
    </visual>
  </link>
  <joint name="right_palm_left_camera_optical_frame_joint" type="fixed">
    <origin rpy="-1.57079632679 0.0 -1.57079632679" xyz="0 0 0"/>
    <parent link="right_palm_left_camera_frame"/>
    <child link="right_palm_left_camera_optical_frame"/>
  </joint>
  <link name="right_palm_left_camera_optical_frame"/>
  <gazebo reference="right_palm_left_camera_frame">
    <sensor name="right_palm_stereo_camera" type="multicamera">
      <update_rate>30.0</update_rate>
      <camera name="left">
        <horizontal_fov>1.25663706144</horizontal_fov>
        <image>
          <width>752</width>
          <height>480</height>
          <format>L8</format>
        </image>
        <clip>
          <near>0.02</near>
          <far>100</far>
        </clip>
        <noise>
          <type>gaussian</type>
          <mean>0.0</mean>
          <stddev>0.007</stddev>
        </noise>
      </camera>
      <camera name="right">
        <pose>0 -0.04 0  0 0 0</pose>
        <horizontal_fov>1.25663706144</horizontal_fov>
        <image>
          <width>752</width>
          <height>480</height>
          <format>L8</format>
        </image>
        <clip>
          <near>0.02</near>
          <far>100</far>
        </clip>
        <noise>
          <type>gaussian</type>
          <mean>0.0</mean>
          <stddev>0.007</stddev>
        </noise>
      </camera>
      <plugin filename="libgazebo_ros_multicamera.so" name="stereo_camera_controller">
        <alwaysOn>true</alwaysOn>
        <updateRate>0.0</updateRate>
        <cameraName>sandia_hands/r_hand/camera</cameraName>
        <imageTopicName>image_raw</imageTopicName>
        <cameraInfoTopicName>camera_info</cameraInfoTopicName>
        <frameName>right_palm_left_camera_optical_frame</frameName>
        <hackBaseline>0.04</hackBaseline>
        <distortionK1>0.0</distortionK1>
        <distortionK2>0.0</distortionK2>
        <distortionK3>0.0</distortionK3>
        <distortionT1>0.0</distortionT1>
        <distortionT2>0.0</distortionT2>
      </plugin>
    </sensor>
  </gazebo>
  <joint name="right_palm_right_camera_frame_joint" type="fixed">
    <origin rpy="0.6708 -1.57079632679 3.14159265359" xyz="0.0435128991906 0.0451672761576 0.025"/>
    <parent link="right_palm"/>
    <child link="right_palm_right_camera_frame"/>
  </joint>
  <link name="right_palm_right_camera_frame">
    <inertial>
      <mass value="0.01"/>
      <origin xyz="0 0 0"/>
      <inertia ixx="0.0001" ixy="0.0" ixz="0.0" iyy="0.0001" iyz="0.0" izz="0.0001"/>
    </inertial>
    <visual group="default">
      <origin rpy="0 0 0" xyz="0 0 0"/>
      <geometry>
        <box size="0.003 0.010 0.007"/>
      </geometry>
    </visual>
  </link>
  <joint name="right_palm_right_camera_optical_frame_joint" type="fixed">
    <origin rpy="-1.57079632679 0.0 -1.57079632679" xyz="0 0 0"/>
    <parent link="right_palm_right_camera_frame"/>
    <child link="right_palm_right_camera_optical_frame"/>
  </joint>
  <link name="right_palm_right_camera_optical_frame"/>
  <gazebo>
    <plugin filename="libContactModelPlugin.so" name="sandia_contact_plugin">
      <contact>
        <collision>r_hand::r_hand_collision_right_palm</collision>
        <collision>r_hand::r_hand_collision_right_palm_1</collision>
        <collision>r_hand::r_hand_collision_right_palm_3</collision>
        <collision>r_hand::r_hand_collision_right_palm_4</collision>
        <collision>r_hand::r_hand_collision_right_palm_5</collision>
        <collision>right_f0_1::right_f0_1_collision</collision>
        <collision>right_f0_2::right_f0_2_collision</collision>
        <collision>right_f1_1::right_f1_1_collision</collision>
        <collision>right_f1_2::right_f1_2_collision</collision>
        <collision>right_f2_1::right_f2_1_collision</collision>
        <collision>right_f2_2::right_f2_2_collision</collision>
        <collision>right_f3_1::right_f3_1_collision</collision>
        <collision>right_f3_2::right_f3_2_collision</collision>
      </contact>
    </plugin>
  </gazebo>
  <gazebo reference="r_hand">
    <sensor name="imu_sensor" type="imu">
      <always_on>1</always_on>
      <update_rate>1000.0</update_rate>
      <imu>
        <noise>
          <type>gaussian</type>
          <rate>
            <mean>0.0</mean>
            <stddev>2e-4</stddev>
            <bias_mean>0.0000075</bias_mean>
            <bias_stddev>0.0000008</bias_stddev>
          </rate>
          <accel>
            <mean>0.0</mean>
            <stddev>1.7e-2</stddev>
            <bias_mean>0.1</bias_mean>
            <bias_stddev>0.001</bias_stddev>
          </accel>
        </noise>
      </imu>
    </sensor>
  </gazebo>
  <link name="left_palm">
    <origin rpy="0 0 0" xyz="0 0 0"/>
    <inertial>
      <mass value="1.303"/>
      <origin xyz="0 0 0"/>
      <!-- solid sphere with 5cm radius -->
      <inertia ixx="0.001303" ixy="0" ixz="0" iyy="0.001303" iyz="0" izz="0.001303"/>
    </inertial>
    <!-- begin simple shape approximation of palm -->
    <collision group="default">
      <origin rpy="0 1.57079632679 0.9" xyz="0.069 -0.016 0.038"/>
      <geometry>
        <cylinder length="0.100" radius="0.013"/>
      </geometry>
    </collision>
    <collision group="other">
      <origin rpy="0.41 0 0.9" xyz="0.064 -0.008 0.021"/>
      <geometry>
        <box size="0.09 .035 .05"/>
      </geometry>
    </collision>
    <collision group="other">
      <origin rpy="0 1.57079632679 0" xyz="0.02 0 -0.005"/>
      <geometry>
        <cylinder length="0.05" radius="0.038"/>
      </geometry>
    </collision>
    <collision group="other">
      <origin rpy="0 0 -0.37" xyz="0.11 0.01 -0.005"/>
      <geometry>
        <box size="0.09 .03 .06"/>
      </geometry>
    </collision>
    <collision group="other">
      <origin rpy="0 0 -0.37" xyz="0.09 -0.02 -0.005"/>
      <geometry>
        <box size="0.09 .03 .06"/>
      </geometry>
    </collision>
    <collision group="other">
      <origin rpy="0 0 -0.37" xyz="0.060 -0.05 -0.005"/>
      <geometry>
        <box size="0.09 .03 .06"/>
      </geometry>
    </collision>
    <collision group="other">
      <origin rpy="0 0 -0.79" xyz="0.044 0.04 -0.005"/>
      <geometry>
        <box size="0.09 .03 .06"/>
      </geometry>
    </collision>
    <!--   end simple shape approximation of palm -->
    <!-- begin visual shape approximation of palm -->
    <visual>
      <origin rpy="0 1.57079632679 0.9" xyz="0.069 -0.016 0.038"/>
      <geometry>
        <cylinder length="0.100" radius="0.013"/>
      </geometry>
      <material name="left_sandia_hand_skin">
        <color rgba="0.835 0.655 0.345 1.0"/>
      </material>
    </visual>
    <visual>
      <origin rpy="0.41 0 0.9" xyz="0.064 -0.008 0.021"/>
      <geometry>
        <box size="0.09 .035 .05"/>
      </geometry>
      <material name="left_sandia_hand_skin">
        <color rgba="0.835 0.655 0.345 1.0"/>
      </material>
    </visual>
    <visual>
      <origin rpy="0 1.57079632679 0" xyz="0.02 0 -0.005"/>
      <geometry>
        <cylinder length="0.05" radius="0.038"/>
      </geometry>
      <material name="left_sandia_hand_skin">
        <color rgba="0.835 0.655 0.345 1.0"/>
      </material>
    </visual>
    <visual>
      <origin rpy="0 0 -0.37" xyz="0.11 0.01 -0.005"/>
      <geometry>
        <box size="0.09 .03 .06"/>
      </geometry>
      <material name="left_sandia_hand_skin">
        <color rgba="0.835 0.655 0.345 1.0"/>
      </material>
    </visual>
    <visual>
      <origin rpy="0 0 -0.37" xyz="0.09 -0.02 -0.005"/>
      <geometry>
        <box size="0.09 .03 .06"/>
      </geometry>
      <material name="left_sandia_hand_skin">
        <color rgba="0.835 0.655 0.345 1.0"/>
      </material>
    </visual>
    <visual>
      <origin rpy="0 0 -0.37" xyz="0.060 -0.05 -0.005"/>
      <geometry>
        <box size="0.09 .03 .06"/>
      </geometry>
      <material name="left_sandia_hand_skin">
        <color rgba="0.835 0.655 0.345 1.0"/>
      </material>
    </visual>
    <visual>
      <origin rpy="0 0 -0.79" xyz="0.044 0.04 -0.005"/>
      <geometry>
        <box size="0.09 .03 .06"/>
      </geometry>
      <material name="left_sandia_hand_skin">
        <color rgba="0.835 0.655 0.345 1.0"/>
      </material>
    </visual>
    <!--   end visual shape approximation of palm -->
    <!-- begin collision mesh of f2 ->
      <collision group="default">
        <origin xyz="0 0 0" rpy="0 0 0"/>
        <geometry>
          <mesh filename="package://sandia_hand_description/meshes/palm.stl"/>
        </geometry>
      </collision>
      <!-   end collision mesh of f2 -->
    <!-- begin visual mesh of f2    ->
      <visual>
        <origin xyz="0 0 0" rpy="0 0 0"/>
        <geometry>
          <mesh filename="package://sandia_hand_description/meshes/palm.stl"/>
        </geometry>
        <material name="${side}_sandia_hand_skin">
          <color rgba="0.835 0.655 0.345 1.0"/>
        </material>
      </visual>
      <!-   end visual mesh of f2 -->
  </link>
  <joint name="left_sandia_hand_joint" type="fixed">
    <parent link="l_hand"/>
    <child link="left_palm"/>
    <origin rpy="0 -1.57079 0" xyz="0 -0.2 0.5"/>
  </joint>
  <link name="left_f0_base">
    <origin rpy="0 0 0" xyz="0 0 0"/>
    <inertial>
      <!-- total mass is 2.303 kg, palm is about 1.303 kg, distribute the rest into _base -->
      <mass value="0.250"/>
      <!-- (2.303 - 1.303) / 4 -->
      <origin xyz="0 0 0"/>
      <!-- model as sphere with radius of 1cm -->
      <inertia ixx="0.00001" ixy="0" ixz="0" iyy="0.00001" iyz="0" izz="0.00001"/>
    </inertial>
  </link>
  <link name="left_f0_fixed_accel">
    <origin rpy="0 0 0" xyz="0 0 0"/>
    <inertial>
      <mass value="0.01"/>
      <origin xyz="0 0 0"/>
      <inertia ixx="0.000001" ixy="0" ixz="0" iyy="0.000001" iyz="0" izz="0.000001"/>
    </inertial>
  </link>
  <link name="left_f0_0">
    <origin rpy="0 0 0" xyz="0 0 0"/>
    <inertial>
      <mass value="0.106"/>
      <!-- F1 -->
      <origin xyz="0 0 0"/>
      <!-- solid cylinder -->
      <inertia ixx="0.000011925" ixy="0" ixz="0" iyy="0.00011505" iyz="0" izz="0.00011505"/>
    </inertial>
    <!-- begin simple shape approximation of f0 -->
    <collision group="default">
      <origin rpy="0 0 0" xyz="0 0 0.003"/>
      <geometry>
        <cylinder length="0.023" radius="0.015"/>
      </geometry>
    </collision>
    <collision group="other">
      <origin rpy="1.57079632679 0 0" xyz="0.011 0 0.003"/>
      <geometry>
        <cylinder length="0.023" radius="0.01"/>
      </geometry>
    </collision>
    <!--   end simple shape approximation of f0 -->
    <!-- begin visual shape approximation of f0 -->
    <visual>
      <origin rpy="0 0 0" xyz="0 0 0.003"/>
      <geometry>
        <cylinder length="0.023" radius="0.015"/>
      </geometry>
      <material name="left_sandia_hand_skin_suntan">
        <color rgba="0.7 0.4 0.2 1.0"/>
      </material>
    </visual>
    <visual>
      <origin rpy="1.57079632679 0 0" xyz="0.011 0 0.003"/>
      <geometry>
        <cylinder length="0.023" radius="0.01"/>
      </geometry>
      <material name="left_sandia_hand_skin_suntan">
        <color rgba="0.7 0.4 0.2 1.0"/>
      </material>
    </visual>
    <!--   end visual shape approximation of f0 -->
    <!-- begin collision mesh of f0 ->
      <collision group="default">
        <origin xyz="0 0 0" rpy="0 0 0"/>
        <geometry>
          <mesh filename="package://sandia_hand_description/meshes/f0.stl"/>
        </geometry>
      </collision>
      <!-   end collision mesh of f0 -->
    <!-- begin visual mesh of f0 ->
      <visual>
        <origin xyz="0 0 0" rpy="0 0 0"/>
        <geometry>
          <mesh filename="package://sandia_hand_description/meshes/f0.stl"/>
        </geometry>
        <material name="${side}_sandia_hand_skin_suntan">
          <color rgba="0.7 0.4 0.2 1.0"/>
        </material>
      </visual>
      <!-   end visual mesh of f0 -->
  </link>
  <link name="left_f0_1">
    <origin rpy="0 0 0" xyz="0 0 0"/>
    <inertial>
      <mass value="0.033"/>
      <!-- F2 -->
      <origin xyz="0 0 0"/>
      <!-- solid cylinder -->
      <inertia ixx="0.00000165" ixy="0" ixz="0" iyy="0.00001316975" iyz="0" izz="0.00001316975"/>
    </inertial>
    <!-- begin simple shape approximation of f1 -->
    <collision group="default">
      <origin rpy="0 1.57079632679 0" xyz="0.024 0 0"/>
      <geometry>
        <cylinder length="0.067" radius="0.01"/>
      </geometry>
    </collision>
    <!--   end simple shape approximation of f1 -->
    <!-- begin visual shape approximation of f1 -->
    <visual>
      <origin rpy="0 1.57079632679 0" xyz="0.024 0 0"/>
      <geometry>
        <cylinder length="0.067" radius="0.01"/>
      </geometry>
      <material name="left_sandia_hand_skin">
        <color rgba="0.835 0.655 0.345 1.0"/>
      </material>
    </visual>
    <!--   end visual shape approximation of f1 -->
    <!-- begin collision mesh of f1 ->
      <collision group="default">
        <origin xyz="0 0 0" rpy="0 0 0"/>
        <geometry>
          <mesh filename="package://sandia_hand_description/meshes/f1.stl"/>
        </geometry>
      </collision>
      <!-   end collision mesh of f1 -->
    <!-- begin visual mesh of f1 ->
      <visual>
        <origin xyz="0 0 0" rpy="0 0 0"/>
        <geometry>
          <mesh filename="package://sandia_hand_description/meshes/f1.stl"/>
        </geometry>
        <material name="${side}_sandia_hand_skin">
          <color rgba="0.835 0.655 0.345 1.0"/>
        </material>
      </visual>
      <!-   end visual mesh of f1 -->
  </link>
  <link name="left_f0_1_accel">
    <origin rpy="0 0 0" xyz="0 0 0"/>
    <inertial>
      <mass value="0.01"/>
      <origin xyz="0 0 0"/>
      <inertia ixx="0.000001" ixy="0" ixz="0" iyy="0.000001" iyz="0" izz="0.000001"/>
    </inertial>
  </link>
  <link name="left_f0_2">
    <origin rpy="0 0 0" xyz="0 0 0"/>
    <inertial>
      <mass value="0.033"/>
      <!-- F3 -->
      <origin xyz="0 0 0"/>
      <!-- solid cylinder -->
      <inertia ixx="0.0000013365" ixy="0" ixz="0" iyy="0.000009603" iyz="0" izz="0.000009603"/>
    </inertial>
    <!-- begin simple shape approximation of f2 -->
    <collision group="default">
      <origin rpy="0 1.57079632679 0" xyz="0.024 0 0"/>
      <geometry>
        <cylinder length="0.057" radius="0.009"/>
      </geometry>
    </collision>
    <collision group="other">
      <origin rpy="0 0 0" xyz="0.052 0 0"/>
      <geometry>
        <sphere radius="0.009"/>
      </geometry>
    </collision>
    <!--   end simple shape approximation of f2 -->
    <!-- begin visual shape approximation of f2 -->
    <visual>
      <origin rpy="0 1.57079632679 0" xyz="0.024 0 0"/>
      <geometry>
        <cylinder length="0.057" radius="0.009"/>
      </geometry>
      <material name="left_sandia_hand_skin_suntan">
        <color rgba="0.8 0.6 0.3 1.0"/>
      </material>
    </visual>
    <visual>
      <origin rpy="0 0 0" xyz="0.052 0 0"/>
      <geometry>
        <sphere radius="0.009"/>
      </geometry>
      <material name="left_sandia_hand_skin_suntan">
        <color rgba="0.8 0.6 0.3 1.0"/>
      </material>
    </visual>
    <!-- begin collision mesh of f2    ->
      <collision group="default">
        <origin xyz="0 0 0" rpy="0 0 0"/>
        <geometry>
          <mesh filename="package://sandia_hand_description/meshes/f2.stl"/>
        </geometry>
      </collision>
      <!-   end collision mesh of f2 -->
    <!-- begin visual mesh of f2    ->
      <visual>
        <origin xyz="0 0 0" rpy="0 0 0"/>
        <geometry>
          <mesh filename="package://sandia_hand_description/meshes/f2.stl"/>
        </geometry>
        <material name="${side}_sandia_hand_skin_suntan">
          <color rgba="0.8 0.6 0.3 1.0"/>
        </material>
      </visual>
      <!-   end visual mesh of f2 -->
  </link>
  <link name="left_f0_2_accel">
    <origin rpy="0 0 0" xyz="0 0 0"/>
    <inertial>
      <mass value="0.01"/>
      <origin xyz="0 0 0"/>
      <inertia ixx="0.000001" ixy="0" ixz="0" iyy="0.000001" iyz="0" izz="0.000001"/>
    </inertial>
  </link>
  <joint name="left_f0_base" type="fixed">
    <parent link="left_palm"/>
    <child link="left_f0_base"/>
    <origin rpy="0 0 -0.3" xyz="0.14 0.0 0"/>
  </joint>
  <joint name="left_f0_j0" type="fixed">
    <axis xyz="0 0 -1"/>
    <parent link="left_f0_base"/>
    <child link="left_f0_0"/>
    <limit effort="11" lower="-1.57079632679" upper="1.57079632679" velocity="-1"/>
    <safety_controller k_position="1000.0" k_velocity="1000.0" soft_lower_limit="-11.57079" soft_upper_limit="11.57079"/>
    <dynamics damping="1.0"/>
    <origin rpy="0 0 0" xyz="0 0 0"/>
  </joint>
  <joint name="left_f0_j1" type="fixed">
    <axis xyz="0 0 1"/>
    <parent link="left_f0_0"/>
    <child link="left_f0_1"/>
    <limit effort="28" lower="-1.57079632679" upper="1.57079632679" velocity="-1"/>
    <safety_controller k_position="1000.0" k_velocity="1000.0" soft_lower_limit="-11.57079" soft_upper_limit="11.57079"/>
    <dynamics damping="1.0"/>
    <origin rpy="1.57079632679 0 0" xyz="0.028 0 0"/>
  </joint>
  <joint name="left_f0_j2" type="fixed">
    <axis xyz="0 0 1"/>
    <parent link="left_f0_1"/>
    <child link="left_f0_2"/>
    <origin rpy="0 0 0" xyz="0.05 0 0"/>
    <safety_controller k_position="1000.0" k_velocity="1000.0" soft_lower_limit="-11.57079" soft_upper_limit="11.57079"/>
    <dynamics damping="1.0"/>
    <limit effort="28" lower="-1.57079632679" upper="1.57079632679" velocity="-1"/>
  </joint>
  <joint name="left_f0_fixed_accel" type="fixed">
    <parent link="left_f0_base"/>
    <child link="left_f0_fixed_accel"/>
    <origin rpy="0 0 0" xyz="-0.05 0 0"/>
  </joint>
  <joint name="left_f0_1_accel" type="fixed">
    <parent link="left_f0_1"/>
    <child link="left_f0_1_accel"/>
    <origin rpy="-1.57079632679 0 0" xyz="0.03 0 0"/>
  </joint>
  <joint name="left_f0_2_accel" type="fixed">
    <parent link="left_f0_2"/>
    <child link="left_f0_2_accel"/>
    <origin rpy="-1.57079632679 0 0" xyz="0.04 0 0"/>
  </joint>
  <transmission name="left_f0_j0" type="pr2_mechanism_model/SimpleTransmission">
    <joint name="left_f0_j0"/>
    <actuator name="left_f0_j0_motor"/>
    <mechanicalReduction>1</mechanicalReduction>
  </transmission>
  <transmission name="left_f0_j1" type="pr2_mechanism_model/SimpleTransmission">
    <joint name="left_f0_j1"/>
    <actuator name="left_f0_j1_motor"/>
    <mechanicalReduction>1</mechanicalReduction>
  </transmission>
  <transmission name="left_f0_j2" type="pr2_mechanism_model/SimpleTransmission">
    <joint name="left_f0_j2"/>
    <actuator name="left_f0_j2_motor"/>
    <mechanicalReduction>1</mechanicalReduction>
  </transmission>
  <gazebo reference="left_f0_base">
    <mu1>0.9</mu1>
    <mu2>0.9</mu2>
    <kp>1000000.0</kp>
    <kd>1.0</kd>
    <maxVel>0.1</maxVel>
    <minDepth>0.001</minDepth>
    <material>Gazebo/FlatBlack</material>
  </gazebo>
  <gazebo reference="left_f0_0">
    <mu1>0.9</mu1>
    <mu2>0.9</mu2>
    <kp>1000000.0</kp>
    <kd>1.0</kd>
    <maxVel>0.1</maxVel>
    <minDepth>0.003</minDepth>
    <maxContacts>1</maxContacts>
    <material>Gazebo/FlatBlack</material>
  </gazebo>
  <gazebo reference="left_f0_1">
    <mu1>0.9</mu1>
    <mu2>0.9</mu2>
    <kp>1000000.0</kp>
    <kd>1.0</kd>
    <maxVel>0.1</maxVel>
    <minDepth>0.003</minDepth>
    <maxContacts>1</maxContacts>
    <material>Gazebo/FlatBlack</material>
  </gazebo>
  <gazebo reference="left_f0_2">
    <mu1>0.9</mu1>
    <mu2>0.9</mu2>
    <kp>1000000.0</kp>
    <kd>1.0</kd>
    <maxVel>0.1</maxVel>
    <minDepth>0.003</minDepth>
    <maxContacts>1</maxContacts>
    <material>Gazebo/FlatBlack</material>
  </gazebo>
  <gazebo reference="left_f0_j0">
    <cfmDamping>1</cfmDamping>
  </gazebo>
  <gazebo reference="left_f0_j1">
    <cfmDamping>1</cfmDamping>
  </gazebo>
  <gazebo reference="left_f0_j2">
    <cfmDamping>1</cfmDamping>
  </gazebo>
  <link name="left_f1_base">
    <origin rpy="0 0 0" xyz="0 0 0"/>
    <inertial>
      <!-- total mass is 2.303 kg, palm is about 1.303 kg, distribute the rest into _base -->
      <mass value="0.250"/>
      <!-- (2.303 - 1.303) / 4 -->
      <origin xyz="0 0 0"/>
      <!-- model as sphere with radius of 1cm -->
      <inertia ixx="0.00001" ixy="0" ixz="0" iyy="0.00001" iyz="0" izz="0.00001"/>
    </inertial>
  </link>
  <link name="left_f1_fixed_accel">
    <origin rpy="0 0 0" xyz="0 0 0"/>
    <inertial>
      <mass value="0.01"/>
      <origin xyz="0 0 0"/>
      <inertia ixx="0.000001" ixy="0" ixz="0" iyy="0.000001" iyz="0" izz="0.000001"/>
    </inertial>
  </link>
  <link name="left_f1_0">
    <origin rpy="0 0 0" xyz="0 0 0"/>
    <inertial>
      <mass value="0.106"/>
      <!-- F1 -->
      <origin xyz="0 0 0"/>
      <!-- solid cylinder -->
      <inertia ixx="0.000011925" ixy="0" ixz="0" iyy="0.00011505" iyz="0" izz="0.00011505"/>
    </inertial>
    <!-- begin simple shape approximation of f0 -->
    <collision group="default">
      <origin rpy="0 0 0" xyz="0 0 0.003"/>
      <geometry>
        <cylinder length="0.023" radius="0.015"/>
      </geometry>
    </collision>
    <collision group="other">
      <origin rpy="1.57079632679 0 0" xyz="0.011 0 0.003"/>
      <geometry>
        <cylinder length="0.023" radius="0.01"/>
      </geometry>
    </collision>
    <!--   end simple shape approximation of f0 -->
    <!-- begin visual shape approximation of f0 -->
    <visual>
      <origin rpy="0 0 0" xyz="0 0 0.003"/>
      <geometry>
        <cylinder length="0.023" radius="0.015"/>
      </geometry>
      <material name="left_sandia_hand_skin_suntan">
        <color rgba="0.7 0.4 0.2 1.0"/>
      </material>
    </visual>
    <visual>
      <origin rpy="1.57079632679 0 0" xyz="0.011 0 0.003"/>
      <geometry>
        <cylinder length="0.023" radius="0.01"/>
      </geometry>
      <material name="left_sandia_hand_skin_suntan">
        <color rgba="0.7 0.4 0.2 1.0"/>
      </material>
    </visual>
    <!--   end visual shape approximation of f0 -->
    <!-- begin collision mesh of f0 ->
      <collision group="default">
        <origin xyz="0 0 0" rpy="0 0 0"/>
        <geometry>
          <mesh filename="package://sandia_hand_description/meshes/f0.stl"/>
        </geometry>
      </collision>
      <!-   end collision mesh of f0 -->
    <!-- begin visual mesh of f0 ->
      <visual>
        <origin xyz="0 0 0" rpy="0 0 0"/>
        <geometry>
          <mesh filename="package://sandia_hand_description/meshes/f0.stl"/>
        </geometry>
        <material name="${side}_sandia_hand_skin_suntan">
          <color rgba="0.7 0.4 0.2 1.0"/>
        </material>
      </visual>
      <!-   end visual mesh of f0 -->
  </link>
  <link name="left_f1_1">
    <origin rpy="0 0 0" xyz="0 0 0"/>
    <inertial>
      <mass value="0.033"/>
      <!-- F2 -->
      <origin xyz="0 0 0"/>
      <!-- solid cylinder -->
      <inertia ixx="0.00000165" ixy="0" ixz="0" iyy="0.00001316975" iyz="0" izz="0.00001316975"/>
    </inertial>
    <!-- begin simple shape approximation of f1 -->
    <collision group="default">
      <origin rpy="0 1.57079632679 0" xyz="0.024 0 0"/>
      <geometry>
        <cylinder length="0.067" radius="0.01"/>
      </geometry>
    </collision>
    <!--   end simple shape approximation of f1 -->
    <!-- begin visual shape approximation of f1 -->
    <visual>
      <origin rpy="0 1.57079632679 0" xyz="0.024 0 0"/>
      <geometry>
        <cylinder length="0.067" radius="0.01"/>
      </geometry>
      <material name="left_sandia_hand_skin">
        <color rgba="0.835 0.655 0.345 1.0"/>
      </material>
    </visual>
    <!--   end visual shape approximation of f1 -->
    <!-- begin collision mesh of f1 ->
      <collision group="default">
        <origin xyz="0 0 0" rpy="0 0 0"/>
        <geometry>
          <mesh filename="package://sandia_hand_description/meshes/f1.stl"/>
        </geometry>
      </collision>
      <!-   end collision mesh of f1 -->
    <!-- begin visual mesh of f1 ->
      <visual>
        <origin xyz="0 0 0" rpy="0 0 0"/>
        <geometry>
          <mesh filename="package://sandia_hand_description/meshes/f1.stl"/>
        </geometry>
        <material name="${side}_sandia_hand_skin">
          <color rgba="0.835 0.655 0.345 1.0"/>
        </material>
      </visual>
      <!-   end visual mesh of f1 -->
  </link>
  <link name="left_f1_1_accel">
    <origin rpy="0 0 0" xyz="0 0 0"/>
    <inertial>
      <mass value="0.01"/>
      <origin xyz="0 0 0"/>
      <inertia ixx="0.000001" ixy="0" ixz="0" iyy="0.000001" iyz="0" izz="0.000001"/>
    </inertial>
  </link>
  <link name="left_f1_2">
    <origin rpy="0 0 0" xyz="0 0 0"/>
    <inertial>
      <mass value="0.033"/>
      <!-- F3 -->
      <origin xyz="0 0 0"/>
      <!-- solid cylinder -->
      <inertia ixx="0.0000013365" ixy="0" ixz="0" iyy="0.000009603" iyz="0" izz="0.000009603"/>
    </inertial>
    <!-- begin simple shape approximation of f2 -->
    <collision group="default">
      <origin rpy="0 1.57079632679 0" xyz="0.024 0 0"/>
      <geometry>
        <cylinder length="0.057" radius="0.009"/>
      </geometry>
    </collision>
    <collision group="other">
      <origin rpy="0 0 0" xyz="0.052 0 0"/>
      <geometry>
        <sphere radius="0.009"/>
      </geometry>
    </collision>
    <!--   end simple shape approximation of f2 -->
    <!-- begin visual shape approximation of f2 -->
    <visual>
      <origin rpy="0 1.57079632679 0" xyz="0.024 0 0"/>
      <geometry>
        <cylinder length="0.057" radius="0.009"/>
      </geometry>
      <material name="left_sandia_hand_skin_suntan">
        <color rgba="0.8 0.6 0.3 1.0"/>
      </material>
    </visual>
    <visual>
      <origin rpy="0 0 0" xyz="0.052 0 0"/>
      <geometry>
        <sphere radius="0.009"/>
      </geometry>
      <material name="left_sandia_hand_skin_suntan">
        <color rgba="0.8 0.6 0.3 1.0"/>
      </material>
    </visual>
    <!-- begin collision mesh of f2    ->
      <collision group="default">
        <origin xyz="0 0 0" rpy="0 0 0"/>
        <geometry>
          <mesh filename="package://sandia_hand_description/meshes/f2.stl"/>
        </geometry>
      </collision>
      <!-   end collision mesh of f2 -->
    <!-- begin visual mesh of f2    ->
      <visual>
        <origin xyz="0 0 0" rpy="0 0 0"/>
        <geometry>
          <mesh filename="package://sandia_hand_description/meshes/f2.stl"/>
        </geometry>
        <material name="${side}_sandia_hand_skin_suntan">
          <color rgba="0.8 0.6 0.3 1.0"/>
        </material>
      </visual>
      <!-   end visual mesh of f2 -->
  </link>
  <link name="left_f1_2_accel">
    <origin rpy="0 0 0" xyz="0 0 0"/>
    <inertial>
      <mass value="0.01"/>
      <origin xyz="0 0 0"/>
      <inertia ixx="0.000001" ixy="0" ixz="0" iyy="0.000001" iyz="0" izz="0.000001"/>
    </inertial>
  </link>
  <joint name="left_f1_base" type="fixed">
    <parent link="left_palm"/>
    <child link="left_f1_base"/>
    <origin rpy="0 0 -0.3" xyz="0.115 -0.03122 0"/>
  </joint>
  <joint name="left_f1_j0" type="fixed">
    <axis xyz="0 0 -1"/>
    <parent link="left_f1_base"/>
    <child link="left_f1_0"/>
    <limit effort="11" lower="-1.57079632679" upper="1.57079632679" velocity="-1"/>
    <safety_controller k_position="1000.0" k_velocity="1000.0" soft_lower_limit="-11.57079" soft_upper_limit="11.57079"/>
    <dynamics damping="1.0"/>
    <origin rpy="0 0 0" xyz="0 0 0"/>
  </joint>
  <joint name="left_f1_j1" type="fixed">
    <axis xyz="0 0 1"/>
    <parent link="left_f1_0"/>
    <child link="left_f1_1"/>
    <limit effort="28" lower="-1.57079632679" upper="1.57079632679" velocity="-1"/>
    <safety_controller k_position="1000.0" k_velocity="1000.0" soft_lower_limit="-11.57079" soft_upper_limit="11.57079"/>
    <dynamics damping="1.0"/>
    <origin rpy="1.57079632679 0 0" xyz="0.028 0 0"/>
  </joint>
  <joint name="left_f1_j2" type="fixed">
    <axis xyz="0 0 1"/>
    <parent link="left_f1_1"/>
    <child link="left_f1_2"/>
    <origin rpy="0 0 0" xyz="0.05 0 0"/>
    <safety_controller k_position="1000.0" k_velocity="1000.0" soft_lower_limit="-11.57079" soft_upper_limit="11.57079"/>
    <dynamics damping="1.0"/>
    <limit effort="28" lower="-1.57079632679" upper="1.57079632679" velocity="-1"/>
  </joint>
  <joint name="left_f1_fixed_accel" type="fixed">
    <parent link="left_f1_base"/>
    <child link="left_f1_fixed_accel"/>
    <origin rpy="0 0 0" xyz="-0.05 0 0"/>
  </joint>
  <joint name="left_f1_1_accel" type="fixed">
    <parent link="left_f1_1"/>
    <child link="left_f1_1_accel"/>
    <origin rpy="-1.57079632679 0 0" xyz="0.03 0 0"/>
  </joint>
  <joint name="left_f1_2_accel" type="fixed">
    <parent link="left_f1_2"/>
    <child link="left_f1_2_accel"/>
    <origin rpy="-1.57079632679 0 0" xyz="0.04 0 0"/>
  </joint>
  <transmission name="left_f1_j0" type="pr2_mechanism_model/SimpleTransmission">
    <joint name="left_f1_j0"/>
    <actuator name="left_f1_j0_motor"/>
    <mechanicalReduction>1</mechanicalReduction>
  </transmission>
  <transmission name="left_f1_j1" type="pr2_mechanism_model/SimpleTransmission">
    <joint name="left_f1_j1"/>
    <actuator name="left_f1_j1_motor"/>
    <mechanicalReduction>1</mechanicalReduction>
  </transmission>
  <transmission name="left_f1_j2" type="pr2_mechanism_model/SimpleTransmission">
    <joint name="left_f1_j2"/>
    <actuator name="left_f1_j2_motor"/>
    <mechanicalReduction>1</mechanicalReduction>
  </transmission>
  <gazebo reference="left_f1_base">
    <mu1>0.9</mu1>
    <mu2>0.9</mu2>
    <kp>1000000.0</kp>
    <kd>1.0</kd>
    <maxVel>0.1</maxVel>
    <minDepth>0.001</minDepth>
    <material>Gazebo/FlatBlack</material>
  </gazebo>
  <gazebo reference="left_f1_0">
    <mu1>0.9</mu1>
    <mu2>0.9</mu2>
    <kp>1000000.0</kp>
    <kd>1.0</kd>
    <maxVel>0.1</maxVel>
    <minDepth>0.003</minDepth>
    <maxContacts>1</maxContacts>
    <material>Gazebo/FlatBlack</material>
  </gazebo>
  <gazebo reference="left_f1_1">
    <mu1>0.9</mu1>
    <mu2>0.9</mu2>
    <kp>1000000.0</kp>
    <kd>1.0</kd>
    <maxVel>0.1</maxVel>
    <minDepth>0.003</minDepth>
    <maxContacts>1</maxContacts>
    <material>Gazebo/FlatBlack</material>
  </gazebo>
  <gazebo reference="left_f1_2">
    <mu1>0.9</mu1>
    <mu2>0.9</mu2>
    <kp>1000000.0</kp>
    <kd>1.0</kd>
    <maxVel>0.1</maxVel>
    <minDepth>0.003</minDepth>
    <maxContacts>1</maxContacts>
    <material>Gazebo/FlatBlack</material>
  </gazebo>
  <gazebo reference="left_f1_j0">
    <cfmDamping>1</cfmDamping>
  </gazebo>
  <gazebo reference="left_f1_j1">
    <cfmDamping>1</cfmDamping>
  </gazebo>
  <gazebo reference="left_f1_j2">
    <cfmDamping>1</cfmDamping>
  </gazebo>
  <link name="left_f2_base">
    <origin rpy="0 0 0" xyz="0 0 0"/>
    <inertial>
      <!-- total mass is 2.303 kg, palm is about 1.303 kg, distribute the rest into _base -->
      <mass value="0.250"/>
      <!-- (2.303 - 1.303) / 4 -->
      <origin xyz="0 0 0"/>
      <!-- model as sphere with radius of 1cm -->
      <inertia ixx="0.00001" ixy="0" ixz="0" iyy="0.00001" iyz="0" izz="0.00001"/>
    </inertial>
  </link>
  <link name="left_f2_fixed_accel">
    <origin rpy="0 0 0" xyz="0 0 0"/>
    <inertial>
      <mass value="0.01"/>
      <origin xyz="0 0 0"/>
      <inertia ixx="0.000001" ixy="0" ixz="0" iyy="0.000001" iyz="0" izz="0.000001"/>
    </inertial>
  </link>
  <link name="left_f2_0">
    <origin rpy="0 0 0" xyz="0 0 0"/>
    <inertial>
      <mass value="0.106"/>
      <!-- F1 -->
      <origin xyz="0 0 0"/>
      <!-- solid cylinder -->
      <inertia ixx="0.000011925" ixy="0" ixz="0" iyy="0.00011505" iyz="0" izz="0.00011505"/>
    </inertial>
    <!-- begin simple shape approximation of f0 -->
    <collision group="default">
      <origin rpy="0 0 0" xyz="0 0 0.003"/>
      <geometry>
        <cylinder length="0.023" radius="0.015"/>
      </geometry>
    </collision>
    <collision group="other">
      <origin rpy="1.57079632679 0 0" xyz="0.011 0 0.003"/>
      <geometry>
        <cylinder length="0.023" radius="0.01"/>
      </geometry>
    </collision>
    <!--   end simple shape approximation of f0 -->
    <!-- begin visual shape approximation of f0 -->
    <visual>
      <origin rpy="0 0 0" xyz="0 0 0.003"/>
      <geometry>
        <cylinder length="0.023" radius="0.015"/>
      </geometry>
      <material name="left_sandia_hand_skin_suntan">
        <color rgba="0.7 0.4 0.2 1.0"/>
      </material>
    </visual>
    <visual>
      <origin rpy="1.57079632679 0 0" xyz="0.011 0 0.003"/>
      <geometry>
        <cylinder length="0.023" radius="0.01"/>
      </geometry>
      <material name="left_sandia_hand_skin_suntan">
        <color rgba="0.7 0.4 0.2 1.0"/>
      </material>
    </visual>
    <!--   end visual shape approximation of f0 -->
    <!-- begin collision mesh of f0 ->
      <collision group="default">
        <origin xyz="0 0 0" rpy="0 0 0"/>
        <geometry>
          <mesh filename="package://sandia_hand_description/meshes/f0.stl"/>
        </geometry>
      </collision>
      <!-   end collision mesh of f0 -->
    <!-- begin visual mesh of f0 ->
      <visual>
        <origin xyz="0 0 0" rpy="0 0 0"/>
        <geometry>
          <mesh filename="package://sandia_hand_description/meshes/f0.stl"/>
        </geometry>
        <material name="${side}_sandia_hand_skin_suntan">
          <color rgba="0.7 0.4 0.2 1.0"/>
        </material>
      </visual>
      <!-   end visual mesh of f0 -->
  </link>
  <link name="left_f2_1">
    <origin rpy="0 0 0" xyz="0 0 0"/>
    <inertial>
      <mass value="0.033"/>
      <!-- F2 -->
      <origin xyz="0 0 0"/>
      <!-- solid cylinder -->
      <inertia ixx="0.00000165" ixy="0" ixz="0" iyy="0.00001316975" iyz="0" izz="0.00001316975"/>
    </inertial>
    <!-- begin simple shape approximation of f1 -->
    <collision group="default">
      <origin rpy="0 1.57079632679 0" xyz="0.024 0 0"/>
      <geometry>
        <cylinder length="0.067" radius="0.01"/>
      </geometry>
    </collision>
    <!--   end simple shape approximation of f1 -->
    <!-- begin visual shape approximation of f1 -->
    <visual>
      <origin rpy="0 1.57079632679 0" xyz="0.024 0 0"/>
      <geometry>
        <cylinder length="0.067" radius="0.01"/>
      </geometry>
      <material name="left_sandia_hand_skin">
        <color rgba="0.835 0.655 0.345 1.0"/>
      </material>
    </visual>
    <!--   end visual shape approximation of f1 -->
    <!-- begin collision mesh of f1 ->
      <collision group="default">
        <origin xyz="0 0 0" rpy="0 0 0"/>
        <geometry>
          <mesh filename="package://sandia_hand_description/meshes/f1.stl"/>
        </geometry>
      </collision>
      <!-   end collision mesh of f1 -->
    <!-- begin visual mesh of f1 ->
      <visual>
        <origin xyz="0 0 0" rpy="0 0 0"/>
        <geometry>
          <mesh filename="package://sandia_hand_description/meshes/f1.stl"/>
        </geometry>
        <material name="${side}_sandia_hand_skin">
          <color rgba="0.835 0.655 0.345 1.0"/>
        </material>
      </visual>
      <!-   end visual mesh of f1 -->
  </link>
  <link name="left_f2_1_accel">
    <origin rpy="0 0 0" xyz="0 0 0"/>
    <inertial>
      <mass value="0.01"/>
      <origin xyz="0 0 0"/>
      <inertia ixx="0.000001" ixy="0" ixz="0" iyy="0.000001" iyz="0" izz="0.000001"/>
    </inertial>
  </link>
  <link name="left_f2_2">
    <origin rpy="0 0 0" xyz="0 0 0"/>
    <inertial>
      <mass value="0.033"/>
      <!-- F3 -->
      <origin xyz="0 0 0"/>
      <!-- solid cylinder -->
      <inertia ixx="0.0000013365" ixy="0" ixz="0" iyy="0.000009603" iyz="0" izz="0.000009603"/>
    </inertial>
    <!-- begin simple shape approximation of f2 -->
    <collision group="default">
      <origin rpy="0 1.57079632679 0" xyz="0.024 0 0"/>
      <geometry>
        <cylinder length="0.057" radius="0.009"/>
      </geometry>
    </collision>
    <collision group="other">
      <origin rpy="0 0 0" xyz="0.052 0 0"/>
      <geometry>
        <sphere radius="0.009"/>
      </geometry>
    </collision>
    <!--   end simple shape approximation of f2 -->
    <!-- begin visual shape approximation of f2 -->
    <visual>
      <origin rpy="0 1.57079632679 0" xyz="0.024 0 0"/>
      <geometry>
        <cylinder length="0.057" radius="0.009"/>
      </geometry>
      <material name="left_sandia_hand_skin_suntan">
        <color rgba="0.8 0.6 0.3 1.0"/>
      </material>
    </visual>
    <visual>
      <origin rpy="0 0 0" xyz="0.052 0 0"/>
      <geometry>
        <sphere radius="0.009"/>
      </geometry>
      <material name="left_sandia_hand_skin_suntan">
        <color rgba="0.8 0.6 0.3 1.0"/>
      </material>
    </visual>
    <!-- begin collision mesh of f2    ->
      <collision group="default">
        <origin xyz="0 0 0" rpy="0 0 0"/>
        <geometry>
          <mesh filename="package://sandia_hand_description/meshes/f2.stl"/>
        </geometry>
      </collision>
      <!-   end collision mesh of f2 -->
    <!-- begin visual mesh of f2    ->
      <visual>
        <origin xyz="0 0 0" rpy="0 0 0"/>
        <geometry>
          <mesh filename="package://sandia_hand_description/meshes/f2.stl"/>
        </geometry>
        <material name="${side}_sandia_hand_skin_suntan">
          <color rgba="0.8 0.6 0.3 1.0"/>
        </material>
      </visual>
      <!-   end visual mesh of f2 -->
  </link>
  <link name="left_f2_2_accel">
    <origin rpy="0 0 0" xyz="0 0 0"/>
    <inertial>
      <mass value="0.01"/>
      <origin xyz="0 0 0"/>
      <inertia ixx="0.000001" ixy="0" ixz="0" iyy="0.000001" iyz="0" izz="0.000001"/>
    </inertial>
  </link>
  <joint name="left_f2_base" type="fixed">
    <parent link="left_palm"/>
    <child link="left_f2_base"/>
    <origin rpy="0 0 -0.3" xyz="0.09 -0.06245 0"/>
  </joint>
  <joint name="left_f2_j0" type="fixed">
    <axis xyz="0 0 -1"/>
    <parent link="left_f2_base"/>
    <child link="left_f2_0"/>
    <limit effort="11" lower="-1.57079632679" upper="1.57079632679" velocity="-1"/>
    <safety_controller k_position="1000.0" k_velocity="1000.0" soft_lower_limit="-11.57079" soft_upper_limit="11.57079"/>
    <dynamics damping="1.0"/>
    <origin rpy="0 0 0" xyz="0 0 0"/>
  </joint>
  <joint name="left_f2_j1" type="fixed">
    <axis xyz="0 0 1"/>
    <parent link="left_f2_0"/>
    <child link="left_f2_1"/>
    <limit effort="28" lower="-1.57079632679" upper="1.57079632679" velocity="-1"/>
    <safety_controller k_position="1000.0" k_velocity="1000.0" soft_lower_limit="-11.57079" soft_upper_limit="11.57079"/>
    <dynamics damping="1.0"/>
    <origin rpy="1.57079632679 0 0" xyz="0.028 0 0"/>
  </joint>
  <joint name="left_f2_j2" type="fixed">
    <axis xyz="0 0 1"/>
    <parent link="left_f2_1"/>
    <child link="left_f2_2"/>
    <origin rpy="0 0 0" xyz="0.05 0 0"/>
    <safety_controller k_position="1000.0" k_velocity="1000.0" soft_lower_limit="-11.57079" soft_upper_limit="11.57079"/>
    <dynamics damping="1.0"/>
    <limit effort="28" lower="-1.57079632679" upper="1.57079632679" velocity="-1"/>
  </joint>
  <joint name="left_f2_fixed_accel" type="fixed">
    <parent link="left_f2_base"/>
    <child link="left_f2_fixed_accel"/>
    <origin rpy="0 0 0" xyz="-0.05 0 0"/>
  </joint>
  <joint name="left_f2_1_accel" type="fixed">
    <parent link="left_f2_1"/>
    <child link="left_f2_1_accel"/>
    <origin rpy="-1.57079632679 0 0" xyz="0.03 0 0"/>
  </joint>
  <joint name="left_f2_2_accel" type="fixed">
    <parent link="left_f2_2"/>
    <child link="left_f2_2_accel"/>
    <origin rpy="-1.57079632679 0 0" xyz="0.04 0 0"/>
  </joint>
  <transmission name="left_f2_j0" type="pr2_mechanism_model/SimpleTransmission">
    <joint name="left_f2_j0"/>
    <actuator name="left_f2_j0_motor"/>
    <mechanicalReduction>1</mechanicalReduction>
  </transmission>
  <transmission name="left_f2_j1" type="pr2_mechanism_model/SimpleTransmission">
    <joint name="left_f2_j1"/>
    <actuator name="left_f2_j1_motor"/>
    <mechanicalReduction>1</mechanicalReduction>
  </transmission>
  <transmission name="left_f2_j2" type="pr2_mechanism_model/SimpleTransmission">
    <joint name="left_f2_j2"/>
    <actuator name="left_f2_j2_motor"/>
    <mechanicalReduction>1</mechanicalReduction>
  </transmission>
  <gazebo reference="left_f2_base">
    <mu1>0.9</mu1>
    <mu2>0.9</mu2>
    <kp>1000000.0</kp>
    <kd>1.0</kd>
    <maxVel>0.1</maxVel>
    <minDepth>0.001</minDepth>
    <material>Gazebo/FlatBlack</material>
  </gazebo>
  <gazebo reference="left_f2_0">
    <mu1>0.9</mu1>
    <mu2>0.9</mu2>
    <kp>1000000.0</kp>
    <kd>1.0</kd>
    <maxVel>0.1</maxVel>
    <minDepth>0.003</minDepth>
    <maxContacts>1</maxContacts>
    <material>Gazebo/FlatBlack</material>
  </gazebo>
  <gazebo reference="left_f2_1">
    <mu1>0.9</mu1>
    <mu2>0.9</mu2>
    <kp>1000000.0</kp>
    <kd>1.0</kd>
    <maxVel>0.1</maxVel>
    <minDepth>0.003</minDepth>
    <maxContacts>1</maxContacts>
    <material>Gazebo/FlatBlack</material>
  </gazebo>
  <gazebo reference="left_f2_2">
    <mu1>0.9</mu1>
    <mu2>0.9</mu2>
    <kp>1000000.0</kp>
    <kd>1.0</kd>
    <maxVel>0.1</maxVel>
    <minDepth>0.003</minDepth>
    <maxContacts>1</maxContacts>
    <material>Gazebo/FlatBlack</material>
  </gazebo>
  <gazebo reference="left_f2_j0">
    <cfmDamping>1</cfmDamping>
  </gazebo>
  <gazebo reference="left_f2_j1">
    <cfmDamping>1</cfmDamping>
  </gazebo>
  <gazebo reference="left_f2_j2">
    <cfmDamping>1</cfmDamping>
  </gazebo>
  <link name="left_f3_base">
    <origin rpy="0 0 0" xyz="0 0 0"/>
    <inertial>
      <!-- total mass is 2.303 kg, palm is about 1.303 kg, distribute the rest into _base -->
      <mass value="0.250"/>
      <!-- (2.303 - 1.303) / 4 -->
      <origin xyz="0 0 0"/>
      <!-- model as sphere with radius of 1cm -->
      <inertia ixx="0.00001" ixy="0" ixz="0" iyy="0.00001" iyz="0" izz="0.00001"/>
    </inertial>
  </link>
  <link name="left_f3_fixed_accel">
    <origin rpy="0 0 0" xyz="0 0 0"/>
    <inertial>
      <mass value="0.01"/>
      <origin xyz="0 0 0"/>
      <inertia ixx="0.000001" ixy="0" ixz="0" iyy="0.000001" iyz="0" izz="0.000001"/>
    </inertial>
  </link>
  <link name="left_f3_0">
    <origin rpy="0 0 0" xyz="0 0 0"/>
    <inertial>
      <mass value="0.106"/>
      <!-- F1 -->
      <origin xyz="0 0 0"/>
      <!-- solid cylinder -->
      <inertia ixx="0.000011925" ixy="0" ixz="0" iyy="0.00011505" iyz="0" izz="0.00011505"/>
    </inertial>
    <!-- begin simple shape approximation of f0 -->
    <collision group="default">
      <origin rpy="0 0 0" xyz="0 0 0.003"/>
      <geometry>
        <cylinder length="0.023" radius="0.015"/>
      </geometry>
    </collision>
    <collision group="other">
      <origin rpy="1.57079632679 0 0" xyz="0.011 0 0.003"/>
      <geometry>
        <cylinder length="0.023" radius="0.01"/>
      </geometry>
    </collision>
    <!--   end simple shape approximation of f0 -->
    <!-- begin visual shape approximation of f0 -->
    <visual>
      <origin rpy="0 0 0" xyz="0 0 0.003"/>
      <geometry>
        <cylinder length="0.023" radius="0.015"/>
      </geometry>
      <material name="left_sandia_hand_skin_suntan">
        <color rgba="0.7 0.4 0.2 1.0"/>
      </material>
    </visual>
    <visual>
      <origin rpy="1.57079632679 0 0" xyz="0.011 0 0.003"/>
      <geometry>
        <cylinder length="0.023" radius="0.01"/>
      </geometry>
      <material name="left_sandia_hand_skin_suntan">
        <color rgba="0.7 0.4 0.2 1.0"/>
      </material>
    </visual>
    <!--   end visual shape approximation of f0 -->
    <!-- begin collision mesh of f0 ->
      <collision group="default">
        <origin xyz="0 0 0" rpy="0 0 0"/>
        <geometry>
          <mesh filename="package://sandia_hand_description/meshes/f0.stl"/>
        </geometry>
      </collision>
      <!-   end collision mesh of f0 -->
    <!-- begin visual mesh of f0 ->
      <visual>
        <origin xyz="0 0 0" rpy="0 0 0"/>
        <geometry>
          <mesh filename="package://sandia_hand_description/meshes/f0.stl"/>
        </geometry>
        <material name="${side}_sandia_hand_skin_suntan">
          <color rgba="0.7 0.4 0.2 1.0"/>
        </material>
      </visual>
      <!-   end visual mesh of f0 -->
  </link>
  <link name="left_f3_1">
    <origin rpy="0 0 0" xyz="0 0 0"/>
    <inertial>
      <mass value="0.033"/>
      <!-- F2 -->
      <origin xyz="0 0 0"/>
      <!-- solid cylinder -->
      <inertia ixx="0.00000165" ixy="0" ixz="0" iyy="0.00001316975" iyz="0" izz="0.00001316975"/>
    </inertial>
    <!-- begin simple shape approximation of f1 -->
    <collision group="default">
      <origin rpy="0 1.57079632679 0" xyz="0.024 0 0"/>
      <geometry>
        <cylinder length="0.067" radius="0.01"/>
      </geometry>
    </collision>
    <!--   end simple shape approximation of f1 -->
    <!-- begin visual shape approximation of f1 -->
    <visual>
      <origin rpy="0 1.57079632679 0" xyz="0.024 0 0"/>
      <geometry>
        <cylinder length="0.067" radius="0.01"/>
      </geometry>
      <material name="left_sandia_hand_skin">
        <color rgba="0.835 0.655 0.345 1.0"/>
      </material>
    </visual>
    <!--   end visual shape approximation of f1 -->
    <!-- begin collision mesh of f1 ->
      <collision group="default">
        <origin xyz="0 0 0" rpy="0 0 0"/>
        <geometry>
          <mesh filename="package://sandia_hand_description/meshes/f1.stl"/>
        </geometry>
      </collision>
      <!-   end collision mesh of f1 -->
    <!-- begin visual mesh of f1 ->
      <visual>
        <origin xyz="0 0 0" rpy="0 0 0"/>
        <geometry>
          <mesh filename="package://sandia_hand_description/meshes/f1.stl"/>
        </geometry>
        <material name="${side}_sandia_hand_skin">
          <color rgba="0.835 0.655 0.345 1.0"/>
        </material>
      </visual>
      <!-   end visual mesh of f1 -->
  </link>
  <link name="left_f3_1_accel">
    <origin rpy="0 0 0" xyz="0 0 0"/>
    <inertial>
      <mass value="0.01"/>
      <origin xyz="0 0 0"/>
      <inertia ixx="0.000001" ixy="0" ixz="0" iyy="0.000001" iyz="0" izz="0.000001"/>
    </inertial>
  </link>
  <link name="left_f3_2">
    <origin rpy="0 0 0" xyz="0 0 0"/>
    <inertial>
      <mass value="0.033"/>
      <!-- F3 -->
      <origin xyz="0 0 0"/>
      <!-- solid cylinder -->
      <inertia ixx="0.0000013365" ixy="0" ixz="0" iyy="0.000009603" iyz="0" izz="0.000009603"/>
    </inertial>
    <!-- begin simple shape approximation of f2 -->
    <collision group="default">
      <origin rpy="0 1.57079632679 0" xyz="0.024 0 0"/>
      <geometry>
        <cylinder length="0.057" radius="0.009"/>
      </geometry>
    </collision>
    <collision group="other">
      <origin rpy="0 0 0" xyz="0.052 0 0"/>
      <geometry>
        <sphere radius="0.009"/>
      </geometry>
    </collision>
    <!--   end simple shape approximation of f2 -->
    <!-- begin visual shape approximation of f2 -->
    <visual>
      <origin rpy="0 1.57079632679 0" xyz="0.024 0 0"/>
      <geometry>
        <cylinder length="0.057" radius="0.009"/>
      </geometry>
      <material name="left_sandia_hand_skin_suntan">
        <color rgba="0.8 0.6 0.3 1.0"/>
      </material>
    </visual>
    <visual>
      <origin rpy="0 0 0" xyz="0.052 0 0"/>
      <geometry>
        <sphere radius="0.009"/>
      </geometry>
      <material name="left_sandia_hand_skin_suntan">
        <color rgba="0.8 0.6 0.3 1.0"/>
      </material>
    </visual>
    <!-- begin collision mesh of f2    ->
      <collision group="default">
        <origin xyz="0 0 0" rpy="0 0 0"/>
        <geometry>
          <mesh filename="package://sandia_hand_description/meshes/f2.stl"/>
        </geometry>
      </collision>
      <!-   end collision mesh of f2 -->
    <!-- begin visual mesh of f2    ->
      <visual>
        <origin xyz="0 0 0" rpy="0 0 0"/>
        <geometry>
          <mesh filename="package://sandia_hand_description/meshes/f2.stl"/>
        </geometry>
        <material name="${side}_sandia_hand_skin_suntan">
          <color rgba="0.8 0.6 0.3 1.0"/>
        </material>
      </visual>
      <!-   end visual mesh of f2 -->
  </link>
  <link name="left_f3_2_accel">
    <origin rpy="0 0 0" xyz="0 0 0"/>
    <inertial>
      <mass value="0.01"/>
      <origin xyz="0 0 0"/>
      <inertia ixx="0.000001" ixy="0" ixz="0" iyy="0.000001" iyz="0" izz="0.000001"/>
    </inertial>
  </link>
  <joint name="left_f3_base" type="fixed">
    <parent link="left_palm"/>
    <child link="left_f3_base"/>
    <origin rpy="0 -3.14079632679 3.9262" xyz="0.03995 0.04383 0.014"/>
  </joint>
  <joint name="left_f3_j0" type="fixed">
    <axis xyz="0 0 -1"/>
    <parent link="left_f3_base"/>
    <child link="left_f3_0"/>
    <limit effort="11" lower="-1.57079632679" upper="1.57079632679" velocity="-1"/>
    <safety_controller k_position="1000.0" k_velocity="1000.0" soft_lower_limit="-11.57079" soft_upper_limit="11.57079"/>
    <dynamics damping="1.0"/>
    <origin rpy="0 0 0" xyz="0 0 0"/>
  </joint>
  <joint name="left_f3_j1" type="fixed">
    <axis xyz="0 0 1"/>
    <parent link="left_f3_0"/>
    <child link="left_f3_1"/>
    <limit effort="28" lower="-1.57079632679" upper="1.57079632679" velocity="-1"/>
    <safety_controller k_position="1000.0" k_velocity="1000.0" soft_lower_limit="-11.57079" soft_upper_limit="11.57079"/>
    <dynamics damping="1.0"/>
    <origin rpy="1.57079632679 0 0" xyz="0.028 0 0"/>
  </joint>
  <joint name="left_f3_j2" type="fixed">
    <axis xyz="0 0 1"/>
    <parent link="left_f3_1"/>
    <child link="left_f3_2"/>
    <origin rpy="0 0 0" xyz="0.05 0 0"/>
    <safety_controller k_position="1000.0" k_velocity="1000.0" soft_lower_limit="-11.57079" soft_upper_limit="11.57079"/>
    <dynamics damping="1.0"/>
    <limit effort="28" lower="-1.57079632679" upper="1.57079632679" velocity="-1"/>
  </joint>
  <joint name="left_f3_fixed_accel" type="fixed">
    <parent link="left_f3_base"/>
    <child link="left_f3_fixed_accel"/>
    <origin rpy="0 0 0" xyz="-0.05 0 0"/>
  </joint>
  <joint name="left_f3_1_accel" type="fixed">
    <parent link="left_f3_1"/>
    <child link="left_f3_1_accel"/>
    <origin rpy="-1.57079632679 0 0" xyz="0.03 0 0"/>
  </joint>
  <joint name="left_f3_2_accel" type="fixed">
    <parent link="left_f3_2"/>
    <child link="left_f3_2_accel"/>
    <origin rpy="-1.57079632679 0 0" xyz="0.04 0 0"/>
  </joint>
  <transmission name="left_f3_j0" type="pr2_mechanism_model/SimpleTransmission">
    <joint name="left_f3_j0"/>
    <actuator name="left_f3_j0_motor"/>
    <mechanicalReduction>1</mechanicalReduction>
  </transmission>
  <transmission name="left_f3_j1" type="pr2_mechanism_model/SimpleTransmission">
    <joint name="left_f3_j1"/>
    <actuator name="left_f3_j1_motor"/>
    <mechanicalReduction>1</mechanicalReduction>
  </transmission>
  <transmission name="left_f3_j2" type="pr2_mechanism_model/SimpleTransmission">
    <joint name="left_f3_j2"/>
    <actuator name="left_f3_j2_motor"/>
    <mechanicalReduction>1</mechanicalReduction>
  </transmission>
  <gazebo reference="left_f3_base">
    <mu1>0.9</mu1>
    <mu2>0.9</mu2>
    <kp>1000000.0</kp>
    <kd>1.0</kd>
    <maxVel>0.1</maxVel>
    <minDepth>0.001</minDepth>
    <material>Gazebo/FlatBlack</material>
  </gazebo>
  <gazebo reference="left_f3_0">
    <mu1>0.9</mu1>
    <mu2>0.9</mu2>
    <kp>1000000.0</kp>
    <kd>1.0</kd>
    <maxVel>0.1</maxVel>
    <minDepth>0.003</minDepth>
    <maxContacts>1</maxContacts>
    <material>Gazebo/FlatBlack</material>
  </gazebo>
  <gazebo reference="left_f3_1">
    <mu1>0.9</mu1>
    <mu2>0.9</mu2>
    <kp>1000000.0</kp>
    <kd>1.0</kd>
    <maxVel>0.1</maxVel>
    <minDepth>0.003</minDepth>
    <maxContacts>1</maxContacts>
    <material>Gazebo/FlatBlack</material>
  </gazebo>
  <gazebo reference="left_f3_2">
    <mu1>0.9</mu1>
    <mu2>0.9</mu2>
    <kp>1000000.0</kp>
    <kd>1.0</kd>
    <maxVel>0.1</maxVel>
    <minDepth>0.003</minDepth>
    <maxContacts>1</maxContacts>
    <material>Gazebo/FlatBlack</material>
  </gazebo>
  <gazebo reference="left_f3_j0">
    <cfmDamping>1</cfmDamping>
  </gazebo>
  <gazebo reference="left_f3_j1">
    <cfmDamping>1</cfmDamping>
  </gazebo>
  <gazebo reference="left_f3_j2">
    <cfmDamping>1</cfmDamping>
  </gazebo>
  <gazebo reference="left_palm">
    <mu1>0.9</mu1>
    <mu2>0.9</mu2>
    <material>Gazebo/FlatBlack</material>
  </gazebo>
  <joint name="left_palm_left_camera_frame_joint" type="fixed">
    <origin rpy="-0.6708 -1.57079632679 3.14159265359" xyz="0.0435128991906 -0.0451672761576 0.025"/>
    <parent link="left_palm"/>
    <child link="left_palm_left_camera_frame"/>
  </joint>
  <link name="left_palm_left_camera_frame">
    <inertial>
      <mass value="0.01"/>
      <origin xyz="0 0 0"/>
      <inertia ixx="0.0001" ixy="0.0" ixz="0.0" iyy="0.0001" iyz="0.0" izz="0.0001"/>
    </inertial>
    <visual group="default">
      <origin rpy="0 0 0" xyz="0 0 0"/>
      <geometry>
        <box size="0.003 0.010 0.007"/>
      </geometry>
    </visual>
  </link>
  <joint name="left_palm_left_camera_optical_frame_joint" type="fixed">
    <origin rpy="-1.57079632679 0.0 -1.57079632679" xyz="0 0 0"/>
    <parent link="left_palm_left_camera_frame"/>
    <child link="left_palm_left_camera_optical_frame"/>
  </joint>
  <link name="left_palm_left_camera_optical_frame"/>
  <gazebo reference="left_palm_left_camera_frame">
    <sensor name="left_palm_stereo_camera" type="multicamera">
      <update_rate>30.0</update_rate>
      <camera name="left">
        <horizontal_fov>1.25663706144</horizontal_fov>
        <image>
          <width>752</width>
          <height>480</height>
          <format>L8</format>
        </image>
        <clip>
          <near>0.02</near>
          <far>100</far>
        </clip>
        <noise>
          <type>gaussian</type>
          <mean>0.0</mean>
          <stddev>0.007</stddev>
        </noise>
      </camera>
      <camera name="right">
        <pose>0 -0.04 0  0 0 0</pose>
        <horizontal_fov>1.25663706144</horizontal_fov>
        <image>
          <width>752</width>
          <height>480</height>
          <format>L8</format>
        </image>
        <clip>
          <near>0.02</near>
          <far>100</far>
        </clip>
        <noise>
          <type>gaussian</type>
          <mean>0.0</mean>
          <stddev>0.007</stddev>
        </noise>
      </camera>
      <plugin filename="libgazebo_ros_multicamera.so" name="stereo_camera_controller">
        <alwaysOn>true</alwaysOn>
        <updateRate>0.0</updateRate>
        <cameraName>sandia_hands/l_hand/camera</cameraName>
        <imageTopicName>image_raw</imageTopicName>
        <cameraInfoTopicName>camera_info</cameraInfoTopicName>
        <frameName>left_palm_left_camera_optical_frame</frameName>
        <hackBaseline>0.04</hackBaseline>
        <distortionK1>0.0</distortionK1>
        <distortionK2>0.0</distortionK2>
        <distortionK3>0.0</distortionK3>
        <distortionT1>0.0</distortionT1>
        <distortionT2>0.0</distortionT2>
      </plugin>
    </sensor>
  </gazebo>
  <joint name="left_palm_right_camera_frame_joint" type="fixed">
    <origin rpy="-0.6708 -1.57079632679 3.14159265359" xyz="0.0683774130138 -0.0138342911048 0.025"/>
    <parent link="left_palm"/>
    <child link="left_palm_right_camera_frame"/>
  </joint>
  <link name="left_palm_right_camera_frame">
    <inertial>
      <mass value="0.01"/>
      <origin xyz="0 0 0"/>
      <inertia ixx="0.0001" ixy="0.0" ixz="0.0" iyy="0.0001" iyz="0.0" izz="0.0001"/>
    </inertial>
    <visual group="default">
      <origin rpy="0 0 0" xyz="0 0 0"/>
      <geometry>
        <box size="0.003 0.010 0.007"/>
      </geometry>
    </visual>
  </link>
  <joint name="left_palm_right_camera_optical_frame_joint" type="fixed">
    <origin rpy="-1.57079632679 0.0 -1.57079632679" xyz="0 0 0"/>
    <parent link="left_palm_right_camera_frame"/>
    <child link="left_palm_right_camera_optical_frame"/>
  </joint>
  <link name="left_palm_right_camera_optical_frame"/>
  <gazebo>
    <plugin filename="libContactModelPlugin.so" name="sandia_contact_plugin">
      <contact>
        <collision>l_hand::l_hand_collision_left_palm</collision>
        <collision>l_hand::l_hand_collision_left_palm_1</collision>
        <collision>l_hand::l_hand_collision_left_palm_3</collision>
        <collision>l_hand::l_hand_collision_left_palm_4</collision>
        <collision>l_hand::l_hand_collision_left_palm_5</collision>
        <collision>left_f0_1::left_f0_1_collision</collision>
        <collision>left_f0_2::left_f0_2_collision</collision>
        <collision>left_f1_1::left_f1_1_collision</collision>
        <collision>left_f1_2::left_f1_2_collision</collision>
        <collision>left_f2_1::left_f2_1_collision</collision>
        <collision>left_f2_2::left_f2_2_collision</collision>
        <collision>left_f3_1::left_f3_1_collision</collision>
        <collision>left_f3_2::left_f3_2_collision</collision>
      </contact>
    </plugin>
  </gazebo>
  <gazebo reference="l_hand">
    <sensor name="imu_sensor" type="imu">
      <always_on>1</always_on>
      <update_rate>1000.0</update_rate>
      <imu>
        <noise>
          <type>gaussian</type>
          <rate>
            <mean>0.0</mean>
            <stddev>2e-4</stddev>
            <bias_mean>0.0000075</bias_mean>
            <bias_stddev>0.0000008</bias_stddev>
          </rate>
          <accel>
            <mean>0.0</mean>
            <stddev>1.7e-2</stddev>
            <bias_mean>0.1</bias_mean>
            <bias_stddev>0.001</bias_stddev>
          </accel>
        </noise>
      </imu>
    </sensor>
  </gazebo>
</robot>
